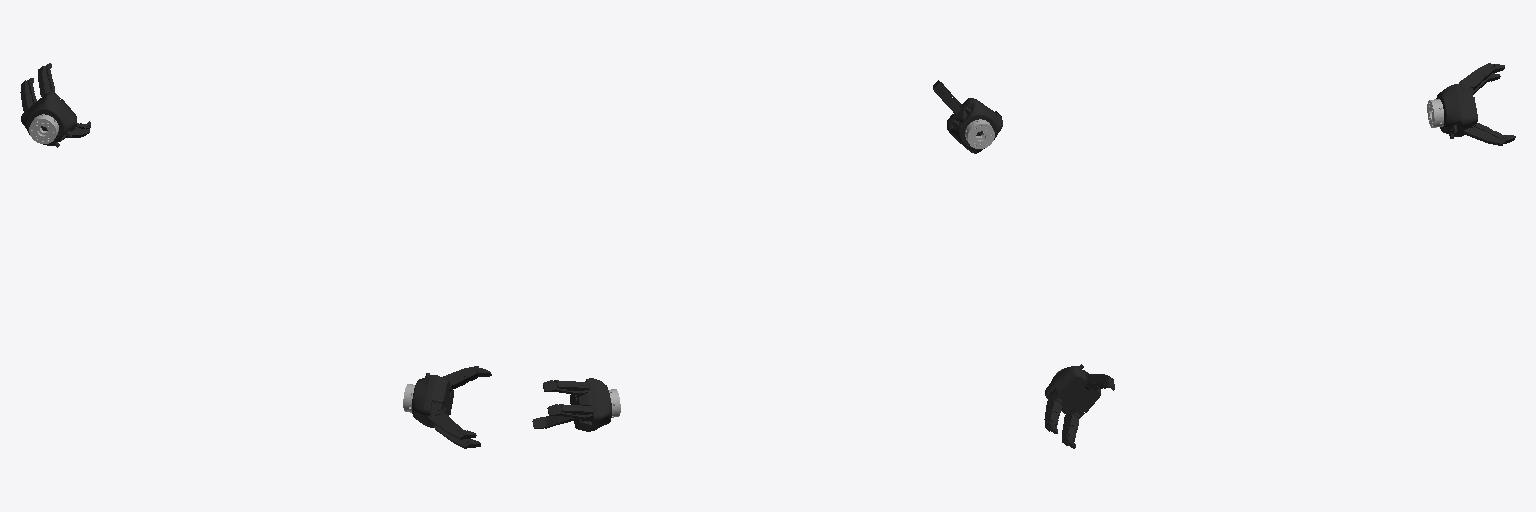
--- Render facts (derived) ---
Views: 3 orthographic renders of the robot side by side, from view 1: azimuth 30°, elevation 25°; view 2: azimuth 150°, elevation 25°; view 3: azimuth 330°, elevation 25°.
Robot: victor — 61 links, 60 joints (36 revolute, 24 fixed); root link world; default pose: every joint at zero.
Links seen in each view (by area): view 1: victor_right_gripper_palm, victor_left_gripper_palm, victor_left_gripper_mounting_bracket; view 2: victor_right_gripper_palm, victor_left_gripper_palm, victor_right_gripper_mounting_bracket; view 3: victor_left_gripper_palm, victor_right_gripper_palm.
Boxes of the visible links, left/top/right/bottom form: victor_right_gripper_palm: left=412, top=373, right=453, bottom=427; victor_left_gripper_palm: left=21, top=92, right=76, bottom=147; victor_left_gripper_mounting_bracket: left=29, top=114, right=58, bottom=143; victor_right_gripper_palm: left=947, top=98, right=1002, bottom=153; victor_left_gripper_palm: left=570, top=378, right=611, bottom=431; victor_right_gripper_mounting_bracket: left=965, top=119, right=994, bottom=148; victor_left_gripper_palm: left=1436, top=83, right=1477, bottom=138; victor_right_gripper_palm: left=1045, top=364, right=1100, bottom=414.
Bounding box of the posed robot: 0.2461 × 2.54 × 0.2294 m (x, y, z).
Meshes: 16 distinct files referenced, 28 mesh visuals loaded (6 binary STL); not drawn: 18 (reference not matched to a file when rendering).

robot.urdf — victor:
<?xml version="1.0" ?>
<!-- =================================================================================== -->
<!-- |    This document was autogenerated by xacro from victor.urdf.xacro              | -->
<!-- |    EDITING THIS FILE BY HAND IS NOT RECOMMENDED                                 | -->
<!-- =================================================================================== -->
<robot name="victor" xmlns:xacro="http://www.ros.org/wiki/xacro">
  <material name="Black">
    <color rgba="0.0 0.0 0.0 1.0"/>
  </material>
  <material name="Blue">
    <color rgba="0.0 0.0 0.8 1.0"/>
  </material>
  <material name="Green">
    <color rgba="0.0 0.8 0.0 1.0"/>
  </material>
  <material name="Grey">
    <color rgba="0.4 0.4 0.4 1.0"/>
  </material>
  <material name="Orange">
    <color rgba="1.0 0.423529411765 0.0392156862745 1.0"/>
  </material>
  <material name="Brown">
    <color rgba="0.870588235294 0.811764705882 0.764705882353 1.0"/>
  </material>
  <material name="Red">
    <color rgba="0.8 0.0 0.0 1.0"/>
  </material>
  <material name="White">
    <color rgba="1.0 1.0 1.0 1.0"/>
  </material>
  <material name="LightGrey">
    <color rgba="0.7 0.7 0.7 1"/>
  </material>
  <material name="DarkGray">
    <color rgba="0.2 0.2 0.2 1"/>
  </material>
  <material name="DarkDarkGray">
    <color rgba="0.1 0.1 0.1 1"/>
  </material>
  <link name="victor_root"/>
  <joint name="victor_dummy_root_joint" type="fixed">
    <parent link="victor_root"/>
    <child link="victor_pedestal"/>
    <origin rpy="0 0 0" xyz="0 0 0"/>
    <axis xyz="0 0 1"/>
  </joint>
  <link name="victor_pedestal">
    <visual>
      <origin rpy="0 0 0" xyz="0 0 0.9245"/>
      <geometry>
        <mesh filename="package://victor_description/meshes/baxter_pedestal/pedestal_visual.stl"/>
      </geometry>
      <material name="DarkGray"/>
    </visual>
    <collision>
      <origin rpy="0 0 0" xyz="0 0 0.9245"/>
      <geometry>
        <mesh filename="package://victor_description/meshes/baxter_pedestal/pedestal_collision.stl"/>
      </geometry>
      <material name="DarkGray"/>
    </collision>
    <inertial>
      <origin rpy="0 0 0" xyz="0 0 0"/>
      <mass value="60.86397744"/>
      <inertia ixx="5.0635929" ixy="0.00103417" ixz="0.80199628" iyy="6.08689388" iyz="0.00105311" izz="4.96191932"/>
    </inertial>
  </link>
  <joint name="victor_base_plate_mount_joint" type="fixed">
    <parent link="victor_pedestal"/>
    <child link="victor_base_plate_mount"/>
    <origin rpy="0 0 0" xyz="0 0 0.863"/>
    <axis xyz="0 0 1"/>
  </joint>
  <link name="victor_base_plate_mount"/>
  <joint name="victor_base_plate_joint" type="fixed">
    <parent link="victor_base_plate_mount"/>
    <child link="victor_base_plate"/>
    <origin rpy="0 0 0" xyz="0 0 0"/>
    <axis xyz="0 0 1"/>
  </joint>
  <link name="victor_base_plate">
    <visual>
      <origin rpy="0 0 0" xyz="0 0 0"/>
      <geometry>
        <mesh filename="package://victor_description/meshes/torso/torso_visual.stl"/>
      </geometry>
      <material name="LightGrey"/>
    </visual>
    <collision>
      <origin rpy="0 0 0" xyz="0 0 0.2"/>
      <geometry>
        <!--<mesh filename="package://victor_description/meshes/torso_visual_model.stl"/>-->
        <cylinder length="0.7" radius="0.2"/>
      </geometry>
      <material name="LightGrey"/>
    </collision>
  </link>
  <joint name="victor_left_arm_mount_joint" type="fixed">
    <parent link="victor_base_plate"/>
    <child link="victor_left_arm_mount"/>
    <origin rpy="-1.5707963268 0 -0.785398163397448" xyz="-0.02 0.1384885 0.385"/>
    <axis xyz="0 0 1"/>
  </joint>
  <link name="victor_left_arm_mount">
    <collision>
      <origin rpy="0 0 0" xyz="0 0 -0.013"/>
      <geometry>
        <!--<mesh filename="package://victor_description/meshes/torso_visual_model.stl"/>-->
        <box size="0.31 0.31 0.032"/>
      </geometry>
      <material name="LightGrey"/>
    </collision>
  </link>
  <joint name="victor_right_arm_mount_joint" type="fixed">
    <parent link="victor_base_plate"/>
    <child link="victor_right_arm_mount"/>
    <origin rpy="1.5707963268 0 0.785398163397448" xyz="-0.02 -0.1384885 0.385"/>
    <axis xyz="0 0 1"/>
  </joint>
  <link name="victor_right_arm_mount">
    <collision>
      <origin rpy="0 0 0" xyz="0 0 -0.013"/>
      <geometry>
        <!--<mesh filename="package://victor_description/meshes/torso_visual_model.stl"/>-->
        <box size="0.31 0.31 0.032"/>
      </geometry>
      <material name="LightGrey"/>
    </collision>
  </link>
  <!--joint between {parent} and link_0-->
  <joint name="victor_left_arm_mount_victor_left_arm_joint" type="fixed">
    <origin rpy="0 0 0" xyz="0 0 0"/>
    <parent link="victor_left_arm_mount"/>
    <child link="victor_left_arm_link_0"/>
  </joint>
  <link name="victor_left_arm_link_0">
    <inertial>
      <origin rpy="0 0 0" xyz="-0.1 0 0.07"/>
      <mass value="5"/>
      <inertia ixx="0.05" ixy="0" ixz="0" iyy="0.06" iyz="0" izz="0.03"/>
    </inertial>
    <visual>
      <origin rpy="0 0 0" xyz="0 0 0"/>
      <geometry>
        <mesh filename="package://victor_description/meshes/iiwa7/visual/link_0.stl"/>
      </geometry>
      <material name="Grey"/>
    </visual>
    <collision>
      <origin rpy="0 0 0" xyz="0 0 0"/>
      <geometry>
        <mesh filename="package://victor_description/meshes/iiwa7/collision/link_0.stl"/>
      </geometry>
      <material name="Grey"/>
    </collision>
    <self_collision_checking>
      <origin rpy="0 0 0" xyz="0 0 0"/>
      <geometry>
        <capsule length="0.25" radius="0.15"/>
      </geometry>
    </self_collision_checking>
  </link>
  <!-- joint between link_0 and link_1 -->
  <joint name="victor_left_arm_joint_1" type="revolute">
    <parent link="victor_left_arm_link_0"/>
    <child link="victor_left_arm_link_1"/>
    <origin rpy="0 0 0" xyz="0 0 0.15"/>
    <axis xyz="0 0 1"/>
    <limit effort="300" lower="-2.96705972839" upper="2.96705972839" velocity="10"/>
    <safety_controller k_position="100" k_velocity="100" soft_lower_limit="-2.93215314335" soft_upper_limit="2.93215314335"/>
    <dynamics damping="0.5"/>
  </joint>
  <link name="victor_left_arm_link_1">
    <inertial>
      <origin rpy="0 0 0" xyz="0 -0.03 0.12"/>
      <mass value="3.4525"/>
      <inertia ixx="0.02183" ixy="0" ixz="0" iyy="0.007703" iyz="-0.003887" izz="0.02083"/>
    </inertial>
    <visual>
      <origin rpy="0 0 0" xyz="0 0 0.0075"/>
      <geometry>
        <mesh filename="package://victor_description/meshes/iiwa7/visual/link_1.stl"/>
      </geometry>
      <material name="Orange"/>
    </visual>
    <collision>
      <origin rpy="0 0 0" xyz="0 0 0.0075"/>
      <geometry>
        <mesh filename="package://victor_description/meshes/iiwa7/collision/link_1.stl"/>
      </geometry>
      <material name="Orange"/>
    </collision>
  </link>
  <joint name="victor_left_arm_joint_2" type="revolute">
    <parent link="victor_left_arm_link_1"/>
    <child link="victor_left_arm_link_2"/>
    <origin rpy="1.57079632679   0 3.14159265359" xyz="0 0 0.19"/>
    <axis xyz="0 0 1"/>
    <limit effort="300" lower="-2.09439510239" upper="2.09439510239" velocity="10"/>
    <safety_controller k_position="100" k_velocity="100" soft_lower_limit="-2.05948851735" soft_upper_limit="2.05948851735"/>
    <dynamics damping="0.5"/>
  </joint>
  <link name="victor_left_arm_link_2">
    <inertial>
      <origin rpy="0 0 0" xyz="0.0003 0.059 0.042"/>
      <mass value="3.4821"/>
      <inertia ixx="0.02076" ixy="0" ixz="-0.003626" iyy="0.02179" iyz="0" izz="0.00779"/>
    </inertial>
    <visual>
      <origin rpy="0 0 0" xyz="0 0 0"/>
      <geometry>
        <mesh filename="package://victor_description/meshes/iiwa7/visual/link_2.stl"/>
      </geometry>
      <material name="Orange"/>
    </visual>
    <collision>
      <origin rpy="0 0 0" xyz="0 0 0"/>
      <geometry>
        <mesh filename="package://victor_description/meshes/iiwa7/collision/link_2.stl"/>
      </geometry>
      <material name="Orange"/>
    </collision>
  </link>
  <joint name="victor_left_arm_joint_3" type="revolute">
    <parent link="victor_left_arm_link_2"/>
    <child link="victor_left_arm_link_3"/>
    <origin rpy="1.57079632679 0 3.14159265359" xyz="0 0.21 0"/>
    <axis xyz="0 0 1"/>
    <limit effort="300" lower="-2.96705972839" upper="2.96705972839" velocity="10"/>
    <safety_controller k_position="100" k_velocity="100" soft_lower_limit="-2.93215314335" soft_upper_limit="2.93215314335"/>
    <dynamics damping="0.5"/>
  </joint>
  <link name="victor_left_arm_link_3">
    <inertial>
      <origin rpy="0 0 0" xyz="0 0.03 0.13"/>
      <mass value="4.05623"/>
      <inertia ixx="0.03204" ixy="0" ixz="0" iyy="0.00972" iyz="0.006227" izz="0.03042"/>
    </inertial>
    <visual>
      <origin rpy="0 0 0" xyz="0 0 -0.026"/>
      <geometry>
        <mesh filename="package://victor_description/meshes/iiwa7/visual/link_3.stl"/>
      </geometry>
      <material name="Orange"/>
    </visual>
    <collision>
      <origin rpy="0 0 0" xyz="0 0 -0.026"/>
      <geometry>
        <mesh filename="package://victor_description/meshes/iiwa7/collision/link_3.stl"/>
      </geometry>
      <material name="Orange"/>
    </collision>
  </link>
  <joint name="victor_left_arm_joint_4" type="revolute">
    <parent link="victor_left_arm_link_3"/>
    <child link="victor_left_arm_link_4"/>
    <origin rpy="1.57079632679 0 0" xyz="0 0 0.19"/>
    <axis xyz="0 0 1"/>
    <limit effort="300" lower="-2.09439510239" upper="2.09439510239" velocity="10"/>
    <safety_controller k_position="100" k_velocity="100" soft_lower_limit="-2.05948851735" soft_upper_limit="2.05948851735"/>
    <dynamics damping="0.5"/>
  </joint>
  <link name="victor_left_arm_link_4">
    <inertial>
      <origin rpy="0 0 0" xyz="0 0.067 0.034"/>
      <mass value="3.4822"/>
      <inertia ixx="0.02178" ixy="0" ixz="0" iyy="0.02075" iyz="-0.003625" izz="0.007785"/>
    </inertial>
    <visual>
      <origin rpy="0 0 0" xyz="0 0 0"/>
      <geometry>
        <mesh filename="package://victor_description/meshes/iiwa7/visual/link_4.stl"/>
      </geometry>
      <material name="Orange"/>
    </visual>
    <collision>
      <origin rpy="0 0 0" xyz="0 0 0"/>
      <geometry>
        <mesh filename="package://victor_description/meshes/iiwa7/collision/link_4.stl"/>
      </geometry>
      <material name="Orange"/>
    </collision>
  </link>
  <joint name="victor_left_arm_joint_5" type="revolute">
    <parent link="victor_left_arm_link_4"/>
    <child link="victor_left_arm_link_5"/>
    <origin rpy="-1.57079632679 3.14159265359 0" xyz="0 0.21 0"/>
    <axis xyz="0 0 1"/>
    <limit effort="300" lower="-2.96705972839" upper="2.96705972839" velocity="10"/>
    <safety_controller k_position="100" k_velocity="100" soft_lower_limit="-2.93215314335" soft_upper_limit="2.93215314335"/>
    <dynamics damping="0.5"/>
  </joint>
  <link name="victor_left_arm_link_5">
    <inertial>
      <origin rpy="0 0 0" xyz="0.0001 0.021 0.076"/>
      <mass value="2.1633"/>
      <inertia ixx="0.01287" ixy="0" ixz="0" iyy="0.005708" iyz="-0.003946" izz="0.01112"/>
    </inertial>
    <visual>
      <origin rpy="0 0 0" xyz="0 0 -0.026"/>
      <geometry>
        <mesh filename="package://victor_description/meshes/iiwa7/visual/link_5.stl"/>
      </geometry>
      <material name="Orange"/>
    </visual>
    <collision>
      <origin rpy="0 0 0" xyz="0 0 -0.026"/>
      <geometry>
        <mesh filename="package://victor_description/meshes/iiwa7/collision/link_5.stl"/>
      </geometry>
      <material name="Orange"/>
    </collision>
  </link>
  <joint name="victor_left_arm_joint_6" type="revolute">
    <parent link="victor_left_arm_link_5"/>
    <child link="victor_left_arm_link_6"/>
    <origin rpy="1.57079632679 0 0" xyz="0 0.06070 0.19"/>
    <axis xyz="0 0 1"/>
    <limit effort="300" lower="-2.09439510239" upper="2.09439510239" velocity="10"/>
    <safety_controller k_position="100" k_velocity="100" soft_lower_limit="-2.05948851735" soft_upper_limit="2.05948851735"/>
    <dynamics damping="0.5"/>
  </joint>
  <link name="victor_left_arm_link_6">
    <inertial>
      <origin rpy="0 0 0" xyz="0 0.0006 0.0004"/>
      <mass value="2.3466"/>
      <inertia ixx="0.006509" ixy="0" ixz="0" iyy="0.006259" iyz="0.00031891" izz="0.004527"/>
    </inertial>
    <visual>
      <origin rpy="0 0 0" xyz="0 0 0"/>
      <geometry>
        <mesh filename="package://victor_description/meshes/iiwa7/visual/link_6.stl"/>
      </geometry>
      <material name="Orange"/>
    </visual>
    <collision>
      <origin rpy="0 0 0" xyz="0 0 0"/>
      <geometry>
        <mesh filename="package://victor_description/meshes/iiwa7/collision/link_6.stl"/>
      </geometry>
      <material name="Orange"/>
    </collision>
  </link>
  <joint name="victor_left_arm_joint_7" type="revolute">
    <parent link="victor_left_arm_link_6"/>
    <child link="victor_left_arm_link_7"/>
    <origin rpy="-1.57079632679 3.14159265359 0" xyz="0 0.081 0.06070"/>
    <axis xyz="0 0 1"/>
    <limit effort="300" lower="-3.05432619099" upper="3.05432619099" velocity="10"/>
    <safety_controller k_position="100" k_velocity="100" soft_lower_limit="-3.01941960595" soft_upper_limit="3.01941960595"/>
    <dynamics damping="0.5"/>
  </joint>
  <link name="victor_left_arm_link_7">
    <inertial>
      <origin rpy="0 0 0" xyz="0 0 0.02"/>
      <mass value="3.129"/>
      <inertia ixx="0.01464" ixy="0.0005912" ixz="0" iyy="0.01465" iyz="0" izz="0.002872"/>
    </inertial>
    <visual>
      <origin rpy="0 0 0" xyz="0 0 -0.0005"/>
      <geometry>
        <mesh filename="package://victor_description/meshes/iiwa7/visual/link_7_electric.stl"/>
      </geometry>
      <material name="Grey"/>
    </visual>
    <collision>
      <origin rpy="0 0 0" xyz="0 0 -0.0005"/>
      <geometry>
        <mesh filename="package://victor_description/meshes/iiwa7/collision/link_7_electric.stl"/>
      </geometry>
      <material name="Grey"/>
    </collision>
  </link>
  <joint name="victor_left_arm_joint_flange" type="fixed">
    <parent link="victor_left_arm_link_7"/>
    <child link="victor_left_arm_flange"/>
    <origin rpy="0 0 0" xyz="0 0 0.045"/>
  </joint>
  <link name="victor_left_arm_flange">
        </link>
  <!-- Our usage above has been tweaked to match Kuka's internal usage, so identity transform -->
  <joint name="victor_left_arm_flange_kuka_joint" type="fixed">
    <parent link="victor_left_arm_flange"/>
    <child link="victor_left_arm_flange_kuka"/>
    <origin rpy="0 0 0" xyz="0 0 0"/>
  </joint>
  <link name="victor_left_arm_flange_kuka">
        </link>
  <!-- Load Gazebo lib and set the robot namespace -->
  <!--<xacro:if value="${load_control_plugin}">-->
  <!--<gazebo>-->
  <!--<plugin name="gazebo_ros_control" filename="libgazebo_ros_control.so">-->
  <!--<robotNamespace>/${robot_name}</robotNamespace>-->
  <!--</plugin>-->
  <!--</gazebo>-->
  <!--</xacro:if>-->
  <!-- Link0 -->
  <gazebo reference="victor_left_arm_link_0">
    <material>Gazebo/Grey</material>
    <mu1>0.2</mu1>
    <mu2>0.2</mu2>
  </gazebo>
  <!-- Link1 -->
  <gazebo reference="victor_left_arm_link_1">
    <material>Gazebo/Orange</material>
    <mu1>0.2</mu1>
    <mu2>0.2</mu2>
  </gazebo>
  <!-- Link2 -->
  <gazebo reference="victor_left_arm_link_2">
    <material>Gazebo/Orange</material>
    <mu1>0.2</mu1>
    <mu2>0.2</mu2>
  </gazebo>
  <!-- Link3 -->
  <gazebo reference="victor_left_arm_link_3">
    <material>Gazebo/Orange</material>
    <mu1>0.2</mu1>
    <mu2>0.2</mu2>
  </gazebo>
  <!-- Link4 -->
  <gazebo reference="victor_left_arm_link_4">
    <material>Gazebo/Orange</material>
    <mu1>0.2</mu1>
    <mu2>0.2</mu2>
  </gazebo>
  <!-- Link5 -->
  <gazebo reference="victor_left_arm_link_5">
    <material>Gazebo/Orange</material>
    <mu1>0.2</mu1>
    <mu2>0.2</mu2>
  </gazebo>
  <!-- Link6 -->
  <gazebo reference="victor_left_arm_link_6">
    <material>Gazebo/Orange</material>
    <mu1>0.2</mu1>
    <mu2>0.2</mu2>
  </gazebo>
  <!-- Link7 -->
  <gazebo reference="victor_left_arm_link_7">
    <material>Gazebo/Grey</material>
    <mu1>0.2</mu1>
    <mu2>0.2</mu2>
  </gazebo>
  <transmission name="victor_left_arm_tran_1">
    <type>transmission_interface/SimpleTransmission</type>
    <joint name="victor_left_arm_joint_1">
      <hardwareInterface>hardware_interface/PositionJointInterface</hardwareInterface>
    </joint>
    <actuator name="victor_left_arm_motor_1">
      <mechanicalReduction>1</mechanicalReduction>
    </actuator>
  </transmission>
  <transmission name="victor_left_arm_tran_2">
    <type>transmission_interface/SimpleTransmission</type>
    <joint name="victor_left_arm_joint_2">
      <hardwareInterface>hardware_interface/PositionJointInterface</hardwareInterface>
    </joint>
    <actuator name="victor_left_arm_motor_2">
      <mechanicalReduction>1</mechanicalReduction>
    </actuator>
  </transmission>
  <transmission name="victor_left_arm_tran_3">
    <type>transmission_interface/SimpleTransmission</type>
    <joint name="victor_left_arm_joint_3">
      <hardwareInterface>hardware_interface/PositionJointInterface</hardwareInterface>
    </joint>
    <actuator name="victor_left_arm_motor_3">
      <mechanicalReduction>1</mechanicalReduction>
    </actuator>
  </transmission>
  <transmission name="victor_left_arm_tran_4">
    <type>transmission_interface/SimpleTransmission</type>
    <joint name="victor_left_arm_joint_4">
      <hardwareInterface>hardware_interface/PositionJointInterface</hardwareInterface>
    </joint>
    <actuator name="victor_left_arm_motor_4">
      <mechanicalReduction>1</mechanicalReduction>
    </actuator>
  </transmission>
  <transmission name="victor_left_arm_tran_5">
    <type>transmission_interface/SimpleTransmission</type>
    <joint name="victor_left_arm_joint_5">
      <hardwareInterface>hardware_interface/PositionJointInterface</hardwareInterface>
    </joint>
    <actuator name="victor_left_arm_motor_5">
      <mechanicalReduction>1</mechanicalReduction>
    </actuator>
  </transmission>
  <transmission name="victor_left_arm_tran_6">
    <type>transmission_interface/SimpleTransmission</type>
    <joint name="victor_left_arm_joint_6">
      <hardwareInterface>hardware_interface/PositionJointInterface</hardwareInterface>
    </joint>
    <actuator name="victor_left_arm_motor_6">
      <mechanicalReduction>1</mechanicalReduction>
    </actuator>
  </transmission>
  <transmission name="victor_left_arm_tran_7">
    <type>transmission_interface/SimpleTransmission</type>
    <joint name="victor_left_arm_joint_7">
      <hardwareInterface>hardware_interface/PositionJointInterface</hardwareInterface>
    </joint>
    <actuator name="victor_left_arm_motor_7">
      <mechanicalReduction>1</mechanicalReduction>
    </actuator>
  </transmission>
  <joint name="victor_joint_left_arm_world_frame_kuka" type="fixed">
    <parent link="victor_left_arm_mount"/>
    <child link="victor_left_arm_world_frame_kuka"/>
    <origin rpy="1.57079632679 0 0" xyz="0 0 0"/>
  </joint>
  <link name="victor_left_arm_world_frame_kuka">
    </link>
  <!--joint between {parent} and link_0-->
  <joint name="victor_right_arm_mount_victor_right_arm_joint" type="fixed">
    <origin rpy="0 0 0" xyz="0 0 0"/>
    <parent link="victor_right_arm_mount"/>
    <child link="victor_right_arm_link_0"/>
  </joint>
  <link name="victor_right_arm_link_0">
    <inertial>
      <origin rpy="0 0 0" xyz="-0.1 0 0.07"/>
      <mass value="5"/>
      <inertia ixx="0.05" ixy="0" ixz="0" iyy="0.06" iyz="0" izz="0.03"/>
    </inertial>
    <visual>
      <origin rpy="0 0 0" xyz="0 0 0"/>
      <geometry>
        <mesh filename="package://victor_description/meshes/iiwa7/visual/link_0.stl"/>
      </geometry>
      <material name="Grey"/>
    </visual>
    <collision>
      <origin rpy="0 0 0" xyz="0 0 0"/>
      <geometry>
        <mesh filename="package://victor_description/meshes/iiwa7/collision/link_0.stl"/>
      </geometry>
      <material name="Grey"/>
    </collision>
    <self_collision_checking>
      <origin rpy="0 0 0" xyz="0 0 0"/>
      <geometry>
        <capsule length="0.25" radius="0.15"/>
      </geometry>
    </self_collision_checking>
  </link>
  <!-- joint between link_0 and link_1 -->
  <joint name="victor_right_arm_joint_1" type="revolute">
    <parent link="victor_right_arm_link_0"/>
    <child link="victor_right_arm_link_1"/>
    <origin rpy="0 0 0" xyz="0 0 0.15"/>
    <axis xyz="0 0 1"/>
    <limit effort="300" lower="-2.96705972839" upper="2.96705972839" velocity="10"/>
    <safety_controller k_position="100" k_velocity="100" soft_lower_limit="-2.93215314335" soft_upper_limit="2.93215314335"/>
    <dynamics damping="0.5"/>
  </joint>
  <link name="victor_right_arm_link_1">
    <inertial>
      <origin rpy="0 0 0" xyz="0 -0.03 0.12"/>
      <mass value="3.4525"/>
      <inertia ixx="0.02183" ixy="0" ixz="0" iyy="0.007703" iyz="-0.003887" izz="0.02083"/>
    </inertial>
    <visual>
      <origin rpy="0 0 0" xyz="0 0 0.0075"/>
      <geometry>
        <mesh filename="package://victor_description/meshes/iiwa7/visual/link_1.stl"/>
      </geometry>
      <material name="Orange"/>
    </visual>
    <collision>
      <origin rpy="0 0 0" xyz="0 0 0.0075"/>
      <geometry>
        <mesh filename="package://victor_description/meshes/iiwa7/collision/link_1.stl"/>
      </geometry>
      <material name="Orange"/>
    </collision>
  </link>
  <joint name="victor_right_arm_joint_2" type="revolute">
    <parent link="victor_right_arm_link_1"/>
    <child link="victor_right_arm_link_2"/>
    <origin rpy="1.57079632679   0 3.14159265359" xyz="0 0 0.19"/>
    <axis xyz="0 0 1"/>
    <limit effort="300" lower="-2.09439510239" upper="2.09439510239" velocity="10"/>
    <safety_controller k_position="100" k_velocity="100" soft_lower_limit="-2.05948851735" soft_upper_limit="2.05948851735"/>
    <dynamics damping="0.5"/>
  </joint>
  <link name="victor_right_arm_link_2">
    <inertial>
      <origin rpy="0 0 0" xyz="0.0003 0.059 0.042"/>
      <mass value="3.4821"/>
      <inertia ixx="0.02076" ixy="0" ixz="-0.003626" iyy="0.02179" iyz="0" izz="0.00779"/>
    </inertial>
    <visual>
      <origin rpy="0 0 0" xyz="0 0 0"/>
      <geometry>
        <mesh filename="package://victor_description/meshes/iiwa7/visual/link_2.stl"/>
      </geometry>
      <material name="Orange"/>
    </visual>
    <collision>
      <origin rpy="0 0 0" xyz="0 0 0"/>
      <geometry>
        <mesh filename="package://victor_description/meshes/iiwa7/collision/link_2.stl"/>
      </geometry>
      <material name="Orange"/>
    </collision>
  </link>
  <joint name="victor_right_arm_joint_3" type="revolute">
    <parent link="victor_right_arm_link_2"/>
    <child link="victor_right_arm_link_3"/>
    <origin rpy="1.57079632679 0 3.14159265359" xyz="0 0.21 0"/>
    <axis xyz="0 0 1"/>
    <limit effort="300" lower="-2.96705972839" upper="2.96705972839" velocity="10"/>
    <safety_controller k_position="100" k_velocity="100" soft_lower_limit="-2.93215314335" soft_upper_limit="2.93215314335"/>
    <dynamics damping="0.5"/>
  </joint>
  <link name="victor_right_arm_link_3">
    <inertial>
      <origin rpy="0 0 0" xyz="0 0.03 0.13"/>
      <mass value="4.05623"/>
      <inertia ixx="0.03204" ixy="0" ixz="0" iyy="0.00972" iyz="0.006227" izz="0.03042"/>
    </inertial>
    <visual>
      <origin rpy="0 0 0" xyz="0 0 -0.026"/>
      <geometry>
        <mesh filename="package://victor_description/meshes/iiwa7/visual/link_3.stl"/>
      </geometry>
      <material name="Orange"/>
    </visual>
    <collision>
      <origin rpy="0 0 0" xyz="0 0 -0.026"/>
      <geometry>
        <mesh filename="package://victor_description/meshes/iiwa7/collision/link_3.stl"/>
      </geometry>
      <material name="Orange"/>
    </collision>
  </link>
  <joint name="victor_right_arm_joint_4" type="revolute">
    <parent link="victor_right_arm_link_3"/>
    <child link="victor_right_arm_link_4"/>
    <origin rpy="1.57079632679 0 0" xyz="0 0 0.19"/>
    <axis xyz="0 0 1"/>
    <limit effort="300" lower="-2.09439510239" upper="2.09439510239" velocity="10"/>
    <safety_controller k_position="100" k_velocity="100" soft_lower_limit="-2.05948851735" soft_upper_limit="2.05948851735"/>
    <dynamics damping="0.5"/>
  </joint>
  <link name="victor_right_arm_link_4">
    <inertial>
      <origin rpy="0 0 0" xyz="0 0.067 0.034"/>
      <mass value="3.4822"/>
      <inertia ixx="0.02178" ixy="0" ixz="0" iyy="0.02075" iyz="-0.003625" izz="0.007785"/>
    </inertial>
    <visual>
      <origin rpy="0 0 0" xyz="0 0 0"/>
      <geometry>
        <mesh filename="package://victor_description/meshes/iiwa7/visual/link_4.stl"/>
      </geometry>
      <material name="Orange"/>
    </visual>
    <collision>
      <origin rpy="0 0 0" xyz="0 0 0"/>
      <geometry>
        <mesh filename="package://victor_description/meshes/iiwa7/collision/link_4.stl"/>
      </geometry>
      <material name="Orange"/>
    </collision>
  </link>
  <joint name="victor_right_arm_joint_5" type="revolute">
    <parent link="victor_right_arm_link_4"/>
    <child link="victor_right_arm_link_5"/>
    <origin rpy="-1.57079632679 3.14159265359 0" xyz="0 0.21 0"/>
    <axis xyz="0 0 1"/>
    <limit effort="300" lower="-2.96705972839" upper="2.96705972839" velocity="10"/>
    <safety_controller k_position="100" k_velocity="100" soft_lower_limit="-2.93215314335" soft_upper_limit="2.93215314335"/>
    <dynamics damping="0.5"/>
  </joint>
  <link name="victor_right_arm_link_5">
    <inertial>
      <origin rpy="0 0 0" xyz="0.0001 0.021 0.076"/>
      <mass value="2.1633"/>
      <inertia ixx="0.01287" ixy="0" ixz="0" iyy="0.005708" iyz="-0.003946" izz="0.01112"/>
    </inertial>
    <visual>
      <origin rpy="0 0 0" xyz="0 0 -0.026"/>
      <geometry>
        <mesh filename="package://victor_description/meshes/iiwa7/visual/link_5.stl"/>
      </geometry>
      <material name="Orange"/>
    </visual>
    <collision>
      <origin rpy="0 0 0" xyz="0 0 -0.026"/>
      <geometry>
        <mesh filename="package://victor_description/meshes/iiwa7/collision/link_5.stl"/>
      </geometry>
      <material name="Orange"/>
    </collision>
  </link>
  <joint name="victor_right_arm_joint_6" type="revolute">
    <parent link="victor_right_arm_link_5"/>
    <child link="victor_right_arm_link_6"/>
    <origin rpy="1.57079632679 0 0" xyz="0 0.06070 0.19"/>
    <axis xyz="0 0 1"/>
    <limit effort="300" lower="-2.09439510239" upper="2.09439510239" velocity="10"/>
    <safety_controller k_position="100" k_velocity="100" soft_lower_limit="-2.05948851735" soft_upper_limit="2.05948851735"/>
    <dynamics damping="0.5"/>
  </joint>
  <link name="victor_right_arm_link_6">
    <inertial>
      <origin rpy="0 0 0" xyz="0 0.0006 0.0004"/>
      <mass value="2.3466"/>
      <inertia ixx="0.006509" ixy="0" ixz="0" iyy="0.006259" iyz="0.00031891" izz="0.004527"/>
    </inertial>
    <visual>
      <origin rpy="0 0 0" xyz="0 0 0"/>
      <geometry>
        <mesh filename="package://victor_description/meshes/iiwa7/visual/link_6.stl"/>
      </geometry>
      <material name="Orange"/>
    </visual>
    <collision>
      <origin rpy="0 0 0" xyz="0 0 0"/>
      <geometry>
        <mesh filename="package://victor_description/meshes/iiwa7/collision/link_6.stl"/>
      </geometry>
      <material name="Orange"/>
    </collision>
  </link>
  <joint name="victor_right_arm_joint_7" type="revolute">
    <parent link="victor_right_arm_link_6"/>
    <child link="victor_right_arm_link_7"/>
    <origin rpy="-1.57079632679 3.14159265359 0" xyz="0 0.081 0.06070"/>
    <axis xyz="0 0 1"/>
    <limit effort="300" lower="-3.05432619099" upper="3.05432619099" velocity="10"/>
    <safety_controller k_position="100" k_velocity="100" soft_lower_limit="-3.01941960595" soft_upper_limit="3.01941960595"/>
    <dynamics damping="0.5"/>
  </joint>
  <link name="victor_right_arm_link_7">
    <inertial>
      <origin rpy="0 0 0" xyz="0 0 0.02"/>
      <mass value="3.129"/>
      <inertia ixx="0.01464" ixy="0.0005912" ixz="0" iyy="0.01465" iyz="0" izz="0.002872"/>
    </inertial>
    <visual>
      <origin rpy="0 0 0" xyz="0 0 -0.0005"/>
      <geometry>
        <mesh filename="package://victor_description/meshes/iiwa7/visual/link_7_electric.stl"/>
      </geometry>
      <material name="Grey"/>
    </visual>
    <collision>
      <origin rpy="0 0 0" xyz="0 0 -0.0005"/>
      <geometry>
        <mesh filename="package://victor_description/meshes/iiwa7/collision/link_7_electric.stl"/>
      </geometry>
      <material name="Grey"/>
    </collision>
  </link>
  <joint name="victor_right_arm_joint_flange" type="fixed">
    <parent link="victor_right_arm_link_7"/>
    <child link="victor_right_arm_flange"/>
    <origin rpy="0 0 0" xyz="0 0 0.045"/>
  </joint>
  <link name="victor_right_arm_flange">
        </link>
  <!-- Our usage above has been tweaked to match Kuka's internal usage, so identity transform -->
  <joint name="victor_right_arm_flange_kuka_joint" type="fixed">
    <parent link="victor_right_arm_flange"/>
    <child link="victor_right_arm_flange_kuka"/>
    <origin rpy="0 0 0" xyz="0 0 0"/>
  </joint>
  <link name="victor_right_arm_flange_kuka">
        </link>
  <!-- Load Gazebo lib and set the robot namespace -->
  <!--<xacro:if value="${load_control_plugin}">-->
  <!--<gazebo>-->
  <!--<plugin name="gazebo_ros_control" filename="libgazebo_ros_control.so">-->
  <!--<robotNamespace>/${robot_name}</robotNamespace>-->
  <!--</plugin>-->
  <!--</gazebo>-->
  <!--</xacro:if>-->
  <!-- Link0 -->
  <gazebo reference="victor_right_arm_link_0">
    <material>Gazebo/Grey</material>
    <mu1>0.2</mu1>
    <mu2>0.2</mu2>
  </gazebo>
  <!-- Link1 -->
  <gazebo reference="victor_right_arm_link_1">
    <material>Gazebo/Orange</material>
    <mu1>0.2</mu1>
    <mu2>0.2</mu2>
  </gazebo>
  <!-- Link2 -->
  <gazebo reference="victor_right_arm_link_2">
    <material>Gazebo/Orange</material>
    <mu1>0.2</mu1>
    <mu2>0.2</mu2>
  </gazebo>
  <!-- Link3 -->
  <gazebo reference="victor_right_arm_link_3">
    <material>Gazebo/Orange</material>
    <mu1>0.2</mu1>
    <mu2>0.2</mu2>
  </gazebo>
  <!-- Link4 -->
  <gazebo reference="victor_right_arm_link_4">
    <material>Gazebo/Orange</material>
    <mu1>0.2</mu1>
    <mu2>0.2</mu2>
  </gazebo>
  <!-- Link5 -->
  <gazebo reference="victor_right_arm_link_5">
    <material>Gazebo/Orange</material>
    <mu1>0.2</mu1>
    <mu2>0.2</mu2>
  </gazebo>
  <!-- Link6 -->
  <gazebo reference="victor_right_arm_link_6">
    <material>Gazebo/Orange</material>
    <mu1>0.2</mu1>
    <mu2>0.2</mu2>
  </gazebo>
  <!-- Link7 -->
  <gazebo reference="victor_right_arm_link_7">
    <material>Gazebo/Grey</material>
    <mu1>0.2</mu1>
    <mu2>0.2</mu2>
  </gazebo>
  <transmission name="victor_right_arm_tran_1">
    <type>transmission_interface/SimpleTransmission</type>
    <joint name="victor_right_arm_joint_1">
      <hardwareInterface>hardware_interface/PositionJointInterface</hardwareInterface>
    </joint>
    <actuator name="victor_right_arm_motor_1">
      <mechanicalReduction>1</mechanicalReduction>
    </actuator>
  </transmission>
  <transmission name="victor_right_arm_tran_2">
    <type>transmission_interface/SimpleTransmission</type>
    <joint name="victor_right_arm_joint_2">
      <hardwareInterface>hardware_interface/PositionJointInterface</hardwareInterface>
    </joint>
    <actuator name="victor_right_arm_motor_2">
      <mechanicalReduction>1</mechanicalReduction>
    </actuator>
  </transmission>
  <transmission name="victor_right_arm_tran_3">
    <type>transmission_interface/SimpleTransmission</type>
    <joint name="victor_right_arm_joint_3">
      <hardwareInterface>hardware_interface/PositionJointInterface</hardwareInterface>
    </joint>
    <actuator name="victor_right_arm_motor_3">
      <mechanicalReduction>1</mechanicalReduction>
    </actuator>
  </transmission>
  <transmission name="victor_right_arm_tran_4">
    <type>transmission_interface/SimpleTransmission</type>
    <joint name="victor_right_arm_joint_4">
      <hardwareInterface>hardware_interface/PositionJointInterface</hardwareInterface>
    </joint>
    <actuator name="victor_right_arm_motor_4">
      <mechanicalReduction>1</mechanicalReduction>
    </actuator>
  </transmission>
  <transmission name="victor_right_arm_tran_5">
    <type>transmission_interface/SimpleTransmission</type>
    <joint name="victor_right_arm_joint_5">
      <hardwareInterface>hardware_interface/PositionJointInterface</hardwareInterface>
    </joint>
    <actuator name="victor_right_arm_motor_5">
      <mechanicalReduction>1</mechanicalReduction>
    </actuator>
  </transmission>
  <transmission name="victor_right_arm_tran_6">
    <type>transmission_interface/SimpleTransmission</type>
    <joint name="victor_right_arm_joint_6">
      <hardwareInterface>hardware_interface/PositionJointInterface</hardwareInterface>
    </joint>
    <actuator name="victor_right_arm_motor_6">
      <mechanicalReduction>1</mechanicalReduction>
    </actuator>
  </transmission>
  <transmission name="victor_right_arm_tran_7">
    <type>transmission_interface/SimpleTransmission</type>
    <joint name="victor_right_arm_joint_7">
      <hardwareInterface>hardware_interface/PositionJointInterface</hardwareInterface>
    </joint>
    <actuator name="victor_right_arm_motor_7">
      <mechanicalReduction>1</mechanicalReduction>
    </actuator>
  </transmission>
  <joint name="victor_joint_right_arm_world_frame_kuka" type="fixed">
    <parent link="victor_right_arm_mount"/>
    <child link="victor_right_arm_world_frame_kuka"/>
    <origin rpy="-1.57079632679 0 0" xyz="0 0 0"/>
  </joint>
  <link name="victor_right_arm_world_frame_kuka">
    </link>
  <!--joint between {parent} and link_0-->
  <joint name="victor_left_arm_flange_victor_left_joint" type="fixed">
    <origin rpy="0 0 0" xyz="0 0 0"/>
    <parent link="victor_left_arm_flange"/>
    <child link="victor_left_gripper_mounting_bracket"/>
  </joint>
  <link name="victor_left_gripper_mounting_bracket">
    <visual>
      <origin rpy="0 0 0" xyz="0 0 0"/>
      <geometry>
        <mesh filename="package://victor_description/meshes/robotiq_3finger/kuka_to_palm_connectors_visual.stl"/>
      </geometry>
      <material name="LightGrey"/>
    </visual>
    <collision>
      <origin rpy="0 0 0" xyz="0 0 0"/>
      <geometry>
        <mesh filename="package://victor_description/meshes/robotiq_3finger/kuka_to_palm_connectors_collision.stl"/>
      </geometry>
      <material name="LightGrey"/>
    </collision>
  </link>
  <!--joint between {parent} and link_0-->
  <joint name="victor_right_arm_flange_victor_right_joint" type="fixed">
    <origin rpy="0 0 0" xyz="0 0 0"/>
    <parent link="victor_right_arm_flange"/>
    <child link="victor_right_gripper_mounting_bracket"/>
  </joint>
  <link name="victor_right_gripper_mounting_bracket">
    <visual>
      <origin rpy="0 0 0" xyz="0 0 0"/>
      <geometry>
        <mesh filename="package://victor_description/meshes/robotiq_3finger/kuka_to_palm_connectors_visual.stl"/>
      </geometry>
      <material name="LightGrey"/>
    </visual>
    <collision>
      <origin rpy="0 0 0" xyz="0 0 0"/>
      <geometry>
        <mesh filename="package://victor_description/meshes/robotiq_3finger/kuka_to_palm_connectors_collision.stl"/>
      </geometry>
      <material name="LightGrey"/>
    </collision>
  </link>
  <joint name="victor_left_gripper_palm_joint" type="fixed">
    <origin rpy="0 0 0.785398163397" xyz="0 0 0.02705"/>
    <parent link="victor_left_gripper_mounting_bracket"/>
    <child link="victor_left_gripper_palm"/>
  </joint>
  <link name="victor_left_gripper_palm">
    <inertial>
      <origin rpy="0 0 0" xyz="0 0 0"/>
      <mass value="1"/>
      <inertia ixx="0.01" ixy="0" ixz="0" iyy="0.01" iyz="0" izz="0.01"/>
    </inertial>
    <visual>
      <origin rpy="0 0 0" xyz="0 0 0"/>
      <geometry>
        <mesh filename="package://victor_description/meshes/robotiq_3finger/palm_visual.stl"/>
      </geometry>
      <material name="DarkGray"/>
    </visual>
    <collision>
      <origin rpy="0 0 0" xyz="0 0 0"/>
      <geometry>
        <mesh filename="package://victor_description/meshes/robotiq_3finger/palm_collision.stl"/>
      </geometry>
      <material name="DarkGray"/>
    </collision>
  </link>
  <!-- Palm surface aligned with the gripper axis -->
  <joint name="victor_left_gripper_palm_surface_joint" type="fixed">
    <parent link="victor_left_gripper_palm"/>
    <child link="victor_left_gripper_palm_surface"/>
    <origin rpy="0 0 0" xyz="0 0 0.092075"/>
  </joint>
  <link name="victor_left_gripper_palm_surface">
        </link>
  <!-- Kuka internal frame has been changed to match our external usage, so identity transform -->
  <joint name="victor_left_gripper_palm_surface_kuka_joint" type="fixed">
    <parent link="victor_left_gripper_palm_surface"/>
    <child link="victor_left_gripper_palm_surface_kuka"/>
    <origin rpy="0 0 0" xyz="0 0 0"/>
  </joint>
  <link name="victor_left_gripper_palm_surface_kuka">
        </link>
  <!-- Finger A -->
  <joint name="victor_left_gripper_fingerA_knuckle" type="fixed">
    <origin rpy="0 0 0" xyz="0.02225040 0 0.06111875"/>
    <parent link="victor_left_gripper_palm"/>
    <child link="victor_left_gripper_fingerA_base"/>
  </joint>
  <link name="victor_left_gripper_fingerA_base">
    <inertial>
      <origin rpy="0 0 0" xyz="0 0 0"/>
      <mass value="1"/>
      <inertia ixx="0.01" ixy="0" ixz="0" iyy="0.01" iyz="0" izz="0.01"/>
    </inertial>
    <visual>
      <origin rpy="0 0 0" xyz="0 0 0"/>
      <geometry>
        <mesh filename="package://victor_description/meshes/robotiq_3finger/finger_link1_base_visual.stl"/>
      </geometry>
      <material name="DarkGray"/>
    </visual>
    <collision>
      <origin rpy="0 0 0" xyz="0 0 0"/>
      <geometry>
        <mesh filename="package://victor_description/meshes/robotiq_3finger/finger_link1_base_visual.stl"/>
      </geometry>
      <material name="DarkGray"/>
    </collision>
  </link>
  <!-- Joint 2 (base-prox) -->
  <joint name="victor_left_gripper_fingerA_joint_2" type="revolute">
    <parent link="victor_left_gripper_fingerA_base"/>
    <child link="victor_left_gripper_fingerA_prox"/>
    <origin rpy="0 0.610865238198 0" xyz="0.02225000 0 0.02151380"/>
    <axis xyz="0 -1 0"/>
    <limit effort="300" lower="0" upper="1.2217304763960307" velocity="10"/>
    <safety_controller k_position="100" k_velocity="100" soft_lower_limit="-0.610865238198" soft_upper_limit="0.610865238198"/>
    <dynamics damping="0.5"/>
  </joint>
  <link name="victor_left_gripper_fingerA_prox">
    <inertial>
      <origin rpy="0 0 0" xyz="0 0 0"/>
      <mass value="1"/>
      <inertia ixx="0.01" ixy="0" ixz="0" iyy="0.01" iyz="0" izz="0.01"/>
    </inertial>
    <visual>
      <origin rpy="0 0 0" xyz="0 0 0"/>
      <geometry>
        <mesh filename="package://victor_description/meshes/robotiq_3finger/finger_link2_prox_visual.stl"/>
      </geometry>
      <material name="DarkGray"/>
    </visual>
    <collision>
      <origin rpy="0 0 0" xyz="0 0 0"/>
      <geometry>
        <mesh filename="package://victor_description/meshes/robotiq_3finger/finger_link2_prox_collision.stl"/>
      </geometry>
      <material name="DarkGray"/>
    </collision>
  </link>
  <!-- Joint 3 (prox-med) -->
  <joint name="victor_left_gripper_fingerA_joint_3" type="revolute">
    <parent link="victor_left_gripper_fingerA_prox"/>
    <child link="victor_left_gripper_fingerA_med"/>
    <origin rpy="0 0 0" xyz="0 0 0.05715000"/>
    <axis xyz="0 -1 0"/>
    <limit effort="300" lower="-1" upper="1" velocity="10"/>
    <safety_controller k_position="100" k_velocity="100" soft_lower_limit="0.0" soft_upper_limit="1.57079632679"/>
    <dynamics damping="0.5"/>
  </joint>
  <link name="victor_left_gripper_fingerA_med">
    <inertial>
      <origin rpy="0 0 0" xyz="0 0 0"/>
      <mass value="1"/>
      <inertia ixx="0.01" ixy="0" ixz="0" iyy="0.01" iyz="0" izz="0.01"/>
    </inertial>
    <visual>
      <origin rpy="0 0 0" xyz="0 0 0"/>
      <geometry>
        <mesh filename="package://victor_description/meshes/robotiq_3finger/finger_link3_med_visual.stl"/>
      </geometry>
      <material name="DarkGray"/>
    </visual>
    <collision>
      <origin rpy="0 0 0" xyz="0 0 0"/>
      <geometry>
        <mesh filename="package://victor_description/meshes/robotiq_3finger/finger_link3_med_collision.stl"/>
      </geometry>
      <material name="DarkGray"/>
    </collision>
  </link>
  <!-- Joint 4 (med-dist) -->
  <joint name="victor_left_gripper_fingerA_joint_4" type="revolute">
    <parent link="victor_left_gripper_fingerA_med"/>
    <child link="victor_left_gripper_fingerA_dist"/>
    <origin rpy="0 -0.436332312999 0" xyz="0 0 0.03810000"/>
    <axis xyz="0 -1 0"/>
    <limit effort="300" lower="-1" upper="1" velocity="10"/>
    <safety_controller k_position="100" k_velocity="100" soft_lower_limit="-0.436332312999" soft_upper_limit="1.27409035396"/>
    <dynamics damping="0.5"/>
  </joint>
  <link name="victor_left_gripper_fingerA_dist">
    <inertial>
      <origin rpy="0 0 0" xyz="0 0 0"/>
      <mass value="1"/>
      <inertia ixx="0.01" ixy="0" ixz="0" iyy="0.01" iyz="0" izz="0.01"/>
    </inertial>
    <visual>
      <origin rpy="0 0 0" xyz="0 0 0"/>
      <geometry>
        <mesh filename="package://victor_description/meshes/robotiq_3finger/finger_link4_dist_visual.stl"/>
      </geometry>
      <material name="DarkGray"/>
    </visual>
    <collision>
      <origin rpy="0 0 0" xyz="0 0 0"/>
      <geometry>
        <mesh filename="package://victor_description/meshes/robotiq_3finger/finger_link4_dist_collision.stl"/>
      </geometry>
      <material name="DarkGray"/>
    </collision>
  </link>
  <!-- Finger B -->
  <joint name="victor_left_gripper_fingerB_knuckle" type="revolute">
    <origin rpy="0 0 3.14159265359" xyz="-0.02230120 0.03651250 0.06111875"/>
    <parent link="victor_left_gripper_palm"/>
    <child link="victor_left_gripper_fingerB_base"/>
    <axis xyz="-1 0 0"/>
    <limit effort="300" lower="-0.279252680319" upper="0.174532925199" velocity="10"/>
    <safety_controller k_position="100" k_velocity="100" soft_lower_limit="-0.244346095279" soft_upper_limit="0.13962634016"/>
    <dynamics damping="0.5"/>
  </joint>
  <link name="victor_left_gripper_fingerB_base">
    <inertial>
      <origin rpy="0 0 0" xyz="0 0 0"/>
      <mass value="1"/>
      <inertia ixx="0.01" ixy="0" ixz="0" iyy="0.01" iyz="0" izz="0.01"/>
    </inertial>
    <visual>
      <origin rpy="0 0 0" xyz="0 0 0"/>
      <geometry>
        <mesh filename="package://victor_description/meshes/robotiq_3finger/finger_link1_base_visual.stl"/>
      </geometry>
      <material name="DarkGray"/>
    </visual>
    <collision>
      <origin rpy="0 0 0" xyz="0 0 0"/>
      <geometry>
        <mesh filename="package://victor_description/meshes/robotiq_3finger/finger_link1_base_visual.stl"/>
      </geometry>
      <material name="DarkGray"/>
    </collision>
  </link>
  <!-- Joint 2 (base-prox) -->
  <joint name="victor_left_gripper_fingerB_joint_2" type="revolute">
    <parent link="victor_left_gripper_fingerB_base"/>
    <child link="victor_left_gripper_fingerB_prox"/>
    <origin rpy="0 0.610865238198 0" xyz="0.02225000 0 0.02151380"/>
    <axis xyz="0 -1 0"/>
    <limit effort="300" lower="0" upper="1.2217304763960307" velocity="10"/>
    <safety_controller k_position="100" k_velocity="100" soft_lower_limit="-0.610865238198" soft_upper_limit="0.610865238198"/>
    <dynamics damping="0.5"/>
  </joint>
  <link name="victor_left_gripper_fingerB_prox">
    <inertial>
      <origin rpy="0 0 0" xyz="0 0 0"/>
      <mass value="1"/>
      <inertia ixx="0.01" ixy="0" ixz="0" iyy="0.01" iyz="0" izz="0.01"/>
    </inertial>
    <visual>
      <origin rpy="0 0 0" xyz="0 0 0"/>
      <geometry>
        <mesh filename="package://victor_description/meshes/robotiq_3finger/finger_link2_prox_visual.stl"/>
      </geometry>
      <material name="DarkGray"/>
    </visual>
    <collision>
      <origin rpy="0 0 0" xyz="0 0 0"/>
      <geometry>
        <mesh filename="package://victor_description/meshes/robotiq_3finger/finger_link2_prox_collision.stl"/>
      </geometry>
      <material name="DarkGray"/>
    </collision>
  </link>
  <!-- Joint 3 (prox-med) -->
  <joint name="victor_left_gripper_fingerB_joint_3" type="revolute">
    <parent link="victor_left_gripper_fingerB_prox"/>
    <child link="victor_left_gripper_fingerB_med"/>
    <origin rpy="0 0 0" xyz="0 0 0.05715000"/>
    <axis xyz="0 -1 0"/>
    <limit effort="300" lower="-1" upper="1" velocity="10"/>
    <safety_controller k_position="100" k_velocity="100" soft_lower_limit="0.0" soft_upper_limit="1.57079632679"/>
    <dynamics damping="0.5"/>
  </joint>
  <link name="victor_left_gripper_fingerB_med">
    <inertial>
      <origin rpy="0 0 0" xyz="0 0 0"/>
      <mass value="1"/>
      <inertia ixx="0.01" ixy="0" ixz="0" iyy="0.01" iyz="0" izz="0.01"/>
    </inertial>
    <visual>
      <origin rpy="0 0 0" xyz="0 0 0"/>
      <geometry>
        <mesh filename="package://victor_description/meshes/robotiq_3finger/finger_link3_med_visual.stl"/>
      </geometry>
      <material name="DarkGray"/>
    </visual>
    <collision>
      <origin rpy="0 0 0" xyz="0 0 0"/>
      <geometry>
        <mesh filename="package://victor_description/meshes/robotiq_3finger/finger_link3_med_collision.stl"/>
      </geometry>
      <material name="DarkGray"/>
    </collision>
  </link>
  <!-- Joint 4 (med-dist) -->
  <joint name="victor_left_gripper_fingerB_joint_4" type="revolute">
    <parent link="victor_left_gripper_fingerB_med"/>
    <child link="victor_left_gripper_fingerB_dist"/>
    <origin rpy="0 -0.436332312999 0" xyz="0 0 0.03810000"/>
    <axis xyz="0 -1 0"/>
    <limit effort="300" lower="-1" upper="1" velocity="10"/>
    <safety_controller k_position="100" k_velocity="100" soft_lower_limit="-0.436332312999" soft_upper_limit="1.27409035396"/>
    <dynamics damping="0.5"/>
  </joint>
  <link name="victor_left_gripper_fingerB_dist">
    <inertial>
      <origin rpy="0 0 0" xyz="0 0 0"/>
      <mass value="1"/>
      <inertia ixx="0.01" ixy="0" ixz="0" iyy="0.01" iyz="0" izz="0.01"/>
    </inertial>
    <visual>
      <origin rpy="0 0 0" xyz="0 0 0"/>
      <geometry>
        <mesh filename="package://victor_description/meshes/robotiq_3finger/finger_link4_dist_visual.stl"/>
      </geometry>
      <material name="DarkGray"/>
    </visual>
    <collision>
      <origin rpy="0 0 0" xyz="0 0 0"/>
      <geometry>
        <mesh filename="package://victor_description/meshes/robotiq_3finger/finger_link4_dist_collision.stl"/>
      </geometry>
      <material name="DarkGray"/>
    </collision>
  </link>
  <!-- Finger C -->
  <joint name="victor_left_gripper_fingerC_knuckle" type="revolute">
    <origin rpy="0 0 3.14159265359" xyz="-0.02230120 -0.03651250 0.06111875"/>
    <parent link="victor_left_gripper_palm"/>
    <child link="victor_left_gripper_fingerC_base"/>
    <axis xyz="1 0 0"/>
    <limit effort="300" lower="-0.279252680319" upper="0.174532925199" velocity="10"/>
    <safety_controller k_position="100" k_velocity="100" soft_lower_limit="-0.244346095279" soft_upper_limit="0.13962634016"/>
    <dynamics damping="0.5"/>
  </joint>
  <link name="victor_left_gripper_fingerC_base">
    <inertial>
      <origin rpy="0 0 0" xyz="0 0 0"/>
      <mass value="1"/>
      <inertia ixx="0.01" ixy="0" ixz="0" iyy="0.01" iyz="0" izz="0.01"/>
    </inertial>
    <visual>
      <origin rpy="0 0 0" xyz="0 0 0"/>
      <geometry>
        <mesh filename="package://victor_description/meshes/robotiq_3finger/finger_link1_base_visual.stl"/>
      </geometry>
      <material name="DarkGray"/>
    </visual>
    <collision>
      <origin rpy="0 0 0" xyz="0 0 0"/>
      <geometry>
        <mesh filename="package://victor_description/meshes/robotiq_3finger/finger_link1_base_visual.stl"/>
      </geometry>
      <material name="DarkGray"/>
    </collision>
  </link>
  <!-- Joint 2 (base-prox) -->
  <joint name="victor_left_gripper_fingerC_joint_2" type="revolute">
    <parent link="victor_left_gripper_fingerC_base"/>
    <child link="victor_left_gripper_fingerC_prox"/>
    <origin rpy="0 0.610865238198 0" xyz="0.02225000 0 0.02151380"/>
    <axis xyz="0 -1 0"/>
    <limit effort="300" lower="0" upper="1.2217304763960307" velocity="10"/>
    <safety_controller k_position="100" k_velocity="100" soft_lower_limit="-0.610865238198" soft_upper_limit="0.610865238198"/>
    <dynamics damping="0.5"/>
  </joint>
  <link name="victor_left_gripper_fingerC_prox">
    <inertial>
      <origin rpy="0 0 0" xyz="0 0 0"/>
      <mass value="1"/>
      <inertia ixx="0.01" ixy="0" ixz="0" iyy="0.01" iyz="0" izz="0.01"/>
    </inertial>
    <visual>
      <origin rpy="0 0 0" xyz="0 0 0"/>
      <geometry>
        <mesh filename="package://victor_description/meshes/robotiq_3finger/finger_link2_prox_visual.stl"/>
      </geometry>
      <material name="DarkGray"/>
    </visual>
    <collision>
      <origin rpy="0 0 0" xyz="0 0 0"/>
      <geometry>
        <mesh filename="package://victor_description/meshes/robotiq_3finger/finger_link2_prox_collision.stl"/>
      </geometry>
      <material name="DarkGray"/>
    </collision>
  </link>
  <!-- Joint 3 (prox-med) -->
  <joint name="victor_left_gripper_fingerC_joint_3" type="revolute">
    <parent link="victor_left_gripper_fingerC_prox"/>
    <child link="victor_left_gripper_fingerC_med"/>
    <origin rpy="0 0 0" xyz="0 0 0.05715000"/>
    <axis xyz="0 -1 0"/>
    <limit effort="300" lower="-1" upper="1" velocity="10"/>
    <safety_controller k_position="100" k_velocity="100" soft_lower_limit="0.0" soft_upper_limit="1.57079632679"/>
    <dynamics damping="0.5"/>
  </joint>
  <link name="victor_left_gripper_fingerC_med">
    <inertial>
      <origin rpy="0 0 0" xyz="0 0 0"/>
      <mass value="1"/>
      <inertia ixx="0.01" ixy="0" ixz="0" iyy="0.01" iyz="0" izz="0.01"/>
    </inertial>
    <visual>
      <origin rpy="0 0 0" xyz="0 0 0"/>
      <geometry>
        <mesh filename="package://victor_description/meshes/robotiq_3finger/finger_link3_med_visual.stl"/>
      </geometry>
      <material name="DarkGray"/>
    </visual>
    <collision>
      <origin rpy="0 0 0" xyz="0 0 0"/>
      <geometry>
        <mesh filename="package://victor_description/meshes/robotiq_3finger/finger_link3_med_collision.stl"/>
      </geometry>
      <material name="DarkGray"/>
    </collision>
  </link>
  <!-- Joint 4 (med-dist) -->
  <joint name="victor_left_gripper_fingerC_joint_4" type="revolute">
    <parent link="victor_left_gripper_fingerC_med"/>
    <child link="victor_left_gripper_fingerC_dist"/>
    <origin rpy="0 -0.436332312999 0" xyz="0 0 0.03810000"/>
    <axis xyz="0 -1 0"/>
    <limit effort="300" lower="-1" upper="1" velocity="10"/>
    <safety_controller k_position="100" k_velocity="100" soft_lower_limit="-0.436332312999" soft_upper_limit="1.27409035396"/>
    <dynamics damping="0.5"/>
  </joint>
  <link name="victor_left_gripper_fingerC_dist">
    <inertial>
      <origin rpy="0 0 0" xyz="0 0 0"/>
      <mass value="1"/>
      <inertia ixx="0.01" ixy="0" ixz="0" iyy="0.01" iyz="0" izz="0.01"/>
    </inertial>
    <visual>
      <origin rpy="0 0 0" xyz="0 0 0"/>
      <geometry>
        <mesh filename="package://victor_description/meshes/robotiq_3finger/finger_link4_dist_visual.stl"/>
      </geometry>
      <material name="DarkGray"/>
    </visual>
    <collision>
      <origin rpy="0 0 0" xyz="0 0 0"/>
      <geometry>
        <mesh filename="package://victor_description/meshes/robotiq_3finger/finger_link4_dist_collision.stl"/>
      </geometry>
      <material name="DarkGray"/>
    </collision>
  </link>
  <transmission name="victor_left_gripper_tran_A2">
    <type>transmission_interface/SimpleTransmission</type>
    <joint name="victor_left_gripper_fingerA_joint_2">
      <hardwareInterface>hardware_interface/EffortJointInterface</hardwareInterface>
    </joint>
    <actuator name="victor_left_gripper_motor_A2">
      <mechanicalReduction>1</mechanicalReduction>
    </actuator>
  </transmission>
  <transmission name="victor_left_gripper_tran_A3">
    <type>transmission_interface/SimpleTransmission</type>
    <joint name="victor_left_gripper_fingerA_joint_3">
      <hardwareInterface>hardware_interface/EffortJointInterface</hardwareInterface>
    </joint>
    <actuator name="victor_left_gripper_motor_A3">
      <mechanicalReduction>1</mechanicalReduction>
    </actuator>
  </transmission>
  <transmission name="victor_left_gripper_tran_A4">
    <type>transmission_interface/SimpleTransmission</type>
    <joint name="victor_left_gripper_fingerA_joint_4">
      <hardwareInterface>hardware_interface/EffortJointInterface</hardwareInterface>
    </joint>
    <actuator name="victor_left_gripper_motor_A4">
      <mechanicalReduction>1</mechanicalReduction>
    </actuator>
  </transmission>
  <transmission name="victor_left_gripper_tran_B2">
    <type>transmission_interface/SimpleTransmission</type>
    <joint name="victor_left_gripper_fingerB_joint_2">
      <hardwareInterface>hardware_interface/EffortJointInterface</hardwareInterface>
    </joint>
    <actuator name="victor_left_gripper_motor_B2">
      <mechanicalReduction>1</mechanicalReduction>
    </actuator>
  </transmission>
  <transmission name="victor_left_gripper_tran_B3">
    <type>transmission_interface/SimpleTransmission</type>
    <joint name="victor_left_gripper_fingerB_joint_3">
      <hardwareInterface>hardware_interface/EffortJointInterface</hardwareInterface>
    </joint>
    <actuator name="victor_left_gripper_motor_B3">
      <mechanicalReduction>1</mechanicalReduction>
    </actuator>
  </transmission>
  <transmission name="victor_left_gripper_tran_B4">
    <type>transmission_interface/SimpleTransmission</type>
    <joint name="victor_left_gripper_fingerB_joint_4">
      <hardwareInterface>hardware_interface/EffortJointInterface</hardwareInterface>
    </joint>
    <actuator name="victor_left_gripper_motor_B4">
      <mechanicalReduction>1</mechanicalReduction>
    </actuator>
  </transmission>
  <transmission name="victor_left_gripper_tran_C2">
    <type>transmission_interface/SimpleTransmission</type>
    <joint name="victor_left_gripper_fingerC_joint_2">
      <hardwareInterface>hardware_interface/EffortJointInterface</hardwareInterface>
    </joint>
    <actuator name="victor_left_gripper_motor_C2">
      <mechanicalReduction>1</mechanicalReduction>
    </actuator>
  </transmission>
  <transmission name="victor_left_gripper_tran_C3">
    <type>transmission_interface/SimpleTransmission</type>
    <joint name="victor_left_gripper_fingerC_joint_3">
      <hardwareInterface>hardware_interface/EffortJointInterface</hardwareInterface>
    </joint>
    <actuator name="victor_left_gripper_motor_C3">
      <mechanicalReduction>1</mechanicalReduction>
    </actuator>
  </transmission>
  <transmission name="victor_left_gripper_tran_C4">
    <type>transmission_interface/SimpleTransmission</type>
    <joint name="victor_left_gripper_fingerC_joint_4">
      <hardwareInterface>hardware_interface/EffortJointInterface</hardwareInterface>
    </joint>
    <actuator name="victor_left_gripper_motor_C4">
      <mechanicalReduction>1</mechanicalReduction>
    </actuator>
  </transmission>
  <transmission name="victor_left_gripper_tran_Bknuckle">
    <type>transmission_interface/SimpleTransmission</type>
    <joint name="victor_left_gripper_fingerB_knuckle">
      <hardwareInterface>hardware_interface/EffortJointInterface</hardwareInterface>
    </joint>
    <actuator name="victor_left_gripper_motor_Bknuckle">
      <mechanicalReduction>1</mechanicalReduction>
    </actuator>
  </transmission>
  <transmission name="victor_left_gripper_tran_Cknuckle">
    <type>transmission_interface/SimpleTransmission</type>
    <joint name="victor_left_gripper_fingerC_knuckle">
      <hardwareInterface>hardware_interface/EffortJointInterface</hardwareInterface>
    </joint>
    <actuator name="victor_left_gripper_motor_Cknuckle">
      <mechanicalReduction>1</mechanicalReduction>
    </actuator>
  </transmission>
  <joint name="victor_right_gripper_palm_joint" type="fixed">
    <origin rpy="0 0 0.785398163397" xyz="0 0 0.02705"/>
    <parent link="victor_right_gripper_mounting_bracket"/>
    <child link="victor_right_gripper_palm"/>
  </joint>
  <link name="victor_right_gripper_palm">
    <inertial>
      <origin rpy="0 0 0" xyz="0 0 0"/>
      <mass value="1"/>
      <inertia ixx="0.01" ixy="0" ixz="0" iyy="0.01" iyz="0" izz="0.01"/>
    </inertial>
    <visual>
      <origin rpy="0 0 0" xyz="0 0 0"/>
      <geometry>
        <mesh filename="package://victor_description/meshes/robotiq_3finger/palm_visual.stl"/>
      </geometry>
      <material name="DarkGray"/>
    </visual>
    <collision>
      <origin rpy="0 0 0" xyz="0 0 0"/>
      <geometry>
        <mesh filename="package://victor_description/meshes/robotiq_3finger/palm_collision.stl"/>
      </geometry>
      <material name="DarkGray"/>
    </collision>
  </link>
  <!-- Palm surface aligned with the gripper axis -->
  <joint name="victor_right_gripper_palm_surface_joint" type="fixed">
    <parent link="victor_right_gripper_palm"/>
    <child link="victor_right_gripper_palm_surface"/>
    <origin rpy="0 0 0" xyz="0 0 0.092075"/>
  </joint>
  <link name="victor_right_gripper_palm_surface">
        </link>
  <!-- Kuka internal frame has been changed to match our external usage, so identity transform -->
  <joint name="victor_right_gripper_palm_surface_kuka_joint" type="fixed">
    <parent link="victor_right_gripper_palm_surface"/>
    <child link="victor_right_gripper_palm_surface_kuka"/>
    <origin rpy="0 0 0" xyz="0 0 0"/>
  </joint>
  <link name="victor_right_gripper_palm_surface_kuka">
        </link>
  <!-- Finger A -->
  <joint name="victor_right_gripper_fingerA_knuckle" type="fixed">
    <origin rpy="0 0 0" xyz="0.02225040 0 0.06111875"/>
    <parent link="victor_right_gripper_palm"/>
    <child link="victor_right_gripper_fingerA_base"/>
  </joint>
  <link name="victor_right_gripper_fingerA_base">
    <inertial>
      <origin rpy="0 0 0" xyz="0 0 0"/>
      <mass value="1"/>
      <inertia ixx="0.01" ixy="0" ixz="0" iyy="0.01" iyz="0" izz="0.01"/>
    </inertial>
    <visual>
      <origin rpy="0 0 0" xyz="0 0 0"/>
      <geometry>
        <mesh filename="package://victor_description/meshes/robotiq_3finger/finger_link1_base_visual.stl"/>
      </geometry>
      <material name="DarkGray"/>
    </visual>
    <collision>
      <origin rpy="0 0 0" xyz="0 0 0"/>
      <geometry>
        <mesh filename="package://victor_description/meshes/robotiq_3finger/finger_link1_base_visual.stl"/>
      </geometry>
      <material name="DarkGray"/>
    </collision>
  </link>
  <!-- Joint 2 (base-prox) -->
  <joint name="victor_right_gripper_fingerA_joint_2" type="revolute">
    <parent link="victor_right_gripper_fingerA_base"/>
    <child link="victor_right_gripper_fingerA_prox"/>
    <origin rpy="0 0.610865238198 0" xyz="0.02225000 0 0.02151380"/>
    <axis xyz="0 -1 0"/>
    <limit effort="300" lower="0" upper="1.2217304763960307" velocity="10"/>
    <safety_controller k_position="100" k_velocity="100" soft_lower_limit="-0.610865238198" soft_upper_limit="0.610865238198"/>
    <dynamics damping="0.5"/>
  </joint>
  <link name="victor_right_gripper_fingerA_prox">
    <inertial>
      <origin rpy="0 0 0" xyz="0 0 0"/>
      <mass value="1"/>
      <inertia ixx="0.01" ixy="0" ixz="0" iyy="0.01" iyz="0" izz="0.01"/>
    </inertial>
    <visual>
      <origin rpy="0 0 0" xyz="0 0 0"/>
      <geometry>
        <mesh filename="package://victor_description/meshes/robotiq_3finger/finger_link2_prox_visual.stl"/>
      </geometry>
      <material name="DarkGray"/>
    </visual>
    <collision>
      <origin rpy="0 0 0" xyz="0 0 0"/>
      <geometry>
        <mesh filename="package://victor_description/meshes/robotiq_3finger/finger_link2_prox_collision.stl"/>
      </geometry>
      <material name="DarkGray"/>
    </collision>
  </link>
  <!-- Joint 3 (prox-med) -->
  <joint name="victor_right_gripper_fingerA_joint_3" type="revolute">
    <parent link="victor_right_gripper_fingerA_prox"/>
    <child link="victor_right_gripper_fingerA_med"/>
    <origin rpy="0 0 0" xyz="0 0 0.05715000"/>
    <axis xyz="0 -1 0"/>
    <limit effort="300" lower="-1" upper="1" velocity="10"/>
    <safety_controller k_position="100" k_velocity="100" soft_lower_limit="0.0" soft_upper_limit="1.57079632679"/>
    <dynamics damping="0.5"/>
  </joint>
  <link name="victor_right_gripper_fingerA_med">
    <inertial>
      <origin rpy="0 0 0" xyz="0 0 0"/>
      <mass value="1"/>
      <inertia ixx="0.01" ixy="0" ixz="0" iyy="0.01" iyz="0" izz="0.01"/>
    </inertial>
    <visual>
      <origin rpy="0 0 0" xyz="0 0 0"/>
      <geometry>
        <mesh filename="package://victor_description/meshes/robotiq_3finger/finger_link3_med_visual.stl"/>
      </geometry>
      <material name="DarkGray"/>
    </visual>
    <collision>
      <origin rpy="0 0 0" xyz="0 0 0"/>
      <geometry>
        <mesh filename="package://victor_description/meshes/robotiq_3finger/finger_link3_med_collision.stl"/>
      </geometry>
      <material name="DarkGray"/>
    </collision>
  </link>
  <!-- Joint 4 (med-dist) -->
  <joint name="victor_right_gripper_fingerA_joint_4" type="revolute">
    <parent link="victor_right_gripper_fingerA_med"/>
    <child link="victor_right_gripper_fingerA_dist"/>
    <origin rpy="0 -0.436332312999 0" xyz="0 0 0.03810000"/>
    <axis xyz="0 -1 0"/>
    <limit effort="300" lower="-1" upper="1" velocity="10"/>
    <safety_controller k_position="100" k_velocity="100" soft_lower_limit="-0.436332312999" soft_upper_limit="1.27409035396"/>
    <dynamics damping="0.5"/>
  </joint>
  <link name="victor_right_gripper_fingerA_dist">
    <inertial>
      <origin rpy="0 0 0" xyz="0 0 0"/>
      <mass value="1"/>
      <inertia ixx="0.01" ixy="0" ixz="0" iyy="0.01" iyz="0" izz="0.01"/>
    </inertial>
    <visual>
      <origin rpy="0 0 0" xyz="0 0 0"/>
      <geometry>
        <mesh filename="package://victor_description/meshes/robotiq_3finger/finger_link4_dist_visual.stl"/>
      </geometry>
      <material name="DarkGray"/>
    </visual>
    <collision>
      <origin rpy="0 0 0" xyz="0 0 0"/>
      <geometry>
        <mesh filename="package://victor_description/meshes/robotiq_3finger/finger_link4_dist_collision.stl"/>
      </geometry>
      <material name="DarkGray"/>
    </collision>
  </link>
  <!-- Finger B -->
  <joint name="victor_right_gripper_fingerB_knuckle" type="revolute">
    <origin rpy="0 0 3.14159265359" xyz="-0.02230120 0.03651250 0.06111875"/>
    <parent link="victor_right_gripper_palm"/>
    <child link="victor_right_gripper_fingerB_base"/>
    <axis xyz="-1 0 0"/>
    <limit effort="300" lower="-0.279252680319" upper="0.174532925199" velocity="10"/>
    <safety_controller k_position="100" k_velocity="100" soft_lower_limit="-0.244346095279" soft_upper_limit="0.13962634016"/>
    <dynamics damping="0.5"/>
  </joint>
  <link name="victor_right_gripper_fingerB_base">
    <inertial>
      <origin rpy="0 0 0" xyz="0 0 0"/>
      <mass value="1"/>
      <inertia ixx="0.01" ixy="0" ixz="0" iyy="0.01" iyz="0" izz="0.01"/>
    </inertial>
    <visual>
      <origin rpy="0 0 0" xyz="0 0 0"/>
      <geometry>
        <mesh filename="package://victor_description/meshes/robotiq_3finger/finger_link1_base_visual.stl"/>
      </geometry>
      <material name="DarkGray"/>
    </visual>
    <collision>
      <origin rpy="0 0 0" xyz="0 0 0"/>
      <geometry>
        <mesh filename="package://victor_description/meshes/robotiq_3finger/finger_link1_base_visual.stl"/>
      </geometry>
      <material name="DarkGray"/>
    </collision>
  </link>
  <!-- Joint 2 (base-prox) -->
  <joint name="victor_right_gripper_fingerB_joint_2" type="revolute">
    <parent link="victor_right_gripper_fingerB_base"/>
    <child link="victor_right_gripper_fingerB_prox"/>
    <origin rpy="0 0.610865238198 0" xyz="0.02225000 0 0.02151380"/>
    <axis xyz="0 -1 0"/>
    <limit effort="300" lower="0" upper="1.2217304763960307" velocity="10"/>
    <safety_controller k_position="100" k_velocity="100" soft_lower_limit="-0.610865238198" soft_upper_limit="0.610865238198"/>
    <dynamics damping="0.5"/>
  </joint>
  <link name="victor_right_gripper_fingerB_prox">
    <inertial>
      <origin rpy="0 0 0" xyz="0 0 0"/>
      <mass value="1"/>
      <inertia ixx="0.01" ixy="0" ixz="0" iyy="0.01" iyz="0" izz="0.01"/>
    </inertial>
    <visual>
      <origin rpy="0 0 0" xyz="0 0 0"/>
      <geometry>
        <mesh filename="package://victor_description/meshes/robotiq_3finger/finger_link2_prox_visual.stl"/>
      </geometry>
      <material name="DarkGray"/>
    </visual>
    <collision>
      <origin rpy="0 0 0" xyz="0 0 0"/>
      <geometry>
        <mesh filename="package://victor_description/meshes/robotiq_3finger/finger_link2_prox_collision.stl"/>
      </geometry>
      <material name="DarkGray"/>
    </collision>
  </link>
  <!-- Joint 3 (prox-med) -->
  <joint name="victor_right_gripper_fingerB_joint_3" type="revolute">
    <parent link="victor_right_gripper_fingerB_prox"/>
    <child link="victor_right_gripper_fingerB_med"/>
    <origin rpy="0 0 0" xyz="0 0 0.05715000"/>
    <axis xyz="0 -1 0"/>
    <limit effort="300" lower="-1" upper="1" velocity="10"/>
    <safety_controller k_position="100" k_velocity="100" soft_lower_limit="0.0" soft_upper_limit="1.57079632679"/>
    <dynamics damping="0.5"/>
  </joint>
  <link name="victor_right_gripper_fingerB_med">
    <inertial>
      <origin rpy="0 0 0" xyz="0 0 0"/>
      <mass value="1"/>
      <inertia ixx="0.01" ixy="0" ixz="0" iyy="0.01" iyz="0" izz="0.01"/>
    </inertial>
    <visual>
      <origin rpy="0 0 0" xyz="0 0 0"/>
      <geometry>
        <mesh filename="package://victor_description/meshes/robotiq_3finger/finger_link3_med_visual.stl"/>
      </geometry>
      <material name="DarkGray"/>
    </visual>
    <collision>
      <origin rpy="0 0 0" xyz="0 0 0"/>
      <geometry>
        <mesh filename="package://victor_description/meshes/robotiq_3finger/finger_link3_med_collision.stl"/>
      </geometry>
      <material name="DarkGray"/>
    </collision>
  </link>
  <!-- Joint 4 (med-dist) -->
  <joint name="victor_right_gripper_fingerB_joint_4" type="revolute">
    <parent link="victor_right_gripper_fingerB_med"/>
    <child link="victor_right_gripper_fingerB_dist"/>
    <origin rpy="0 -0.436332312999 0" xyz="0 0 0.03810000"/>
    <axis xyz="0 -1 0"/>
    <limit effort="300" lower="-1" upper="1" velocity="10"/>
    <safety_controller k_position="100" k_velocity="100" soft_lower_limit="-0.436332312999" soft_upper_limit="1.27409035396"/>
    <dynamics damping="0.5"/>
  </joint>
  <link name="victor_right_gripper_fingerB_dist">
    <inertial>
      <origin rpy="0 0 0" xyz="0 0 0"/>
      <mass value="1"/>
      <inertia ixx="0.01" ixy="0" ixz="0" iyy="0.01" iyz="0" izz="0.01"/>
    </inertial>
    <visual>
      <origin rpy="0 0 0" xyz="0 0 0"/>
      <geometry>
        <mesh filename="package://victor_description/meshes/robotiq_3finger/finger_link4_dist_visual.stl"/>
      </geometry>
      <material name="DarkGray"/>
    </visual>
    <collision>
      <origin rpy="0 0 0" xyz="0 0 0"/>
      <geometry>
        <mesh filename="package://victor_description/meshes/robotiq_3finger/finger_link4_dist_collision.stl"/>
      </geometry>
      <material name="DarkGray"/>
    </collision>
  </link>
  <!-- Finger C -->
  <joint name="victor_right_gripper_fingerC_knuckle" type="revolute">
    <origin rpy="0 0 3.14159265359" xyz="-0.02230120 -0.03651250 0.06111875"/>
    <parent link="victor_right_gripper_palm"/>
    <child link="victor_right_gripper_fingerC_base"/>
    <axis xyz="1 0 0"/>
    <limit effort="300" lower="-0.279252680319" upper="0.174532925199" velocity="10"/>
    <safety_controller k_position="100" k_velocity="100" soft_lower_limit="-0.244346095279" soft_upper_limit="0.13962634016"/>
    <dynamics damping="0.5"/>
  </joint>
  <link name="victor_right_gripper_fingerC_base">
    <inertial>
      <origin rpy="0 0 0" xyz="0 0 0"/>
      <mass value="1"/>
      <inertia ixx="0.01" ixy="0" ixz="0" iyy="0.01" iyz="0" izz="0.01"/>
    </inertial>
    <visual>
      <origin rpy="0 0 0" xyz="0 0 0"/>
      <geometry>
        <mesh filename="package://victor_description/meshes/robotiq_3finger/finger_link1_base_visual.stl"/>
      </geometry>
      <material name="DarkGray"/>
    </visual>
    <collision>
      <origin rpy="0 0 0" xyz="0 0 0"/>
      <geometry>
        <mesh filename="package://victor_description/meshes/robotiq_3finger/finger_link1_base_visual.stl"/>
      </geometry>
      <material name="DarkGray"/>
    </collision>
  </link>
  <!-- Joint 2 (base-prox) -->
  <joint name="victor_right_gripper_fingerC_joint_2" type="revolute">
    <parent link="victor_right_gripper_fingerC_base"/>
    <child link="victor_right_gripper_fingerC_prox"/>
    <origin rpy="0 0.610865238198 0" xyz="0.02225000 0 0.02151380"/>
    <axis xyz="0 -1 0"/>
    <limit effort="300" lower="0" upper="1.2217304763960307" velocity="10"/>
    <safety_controller k_position="100" k_velocity="100" soft_lower_limit="-0.610865238198" soft_upper_limit="0.610865238198"/>
    <dynamics damping="0.5"/>
  </joint>
  <link name="victor_right_gripper_fingerC_prox">
    <inertial>
      <origin rpy="0 0 0" xyz="0 0 0"/>
      <mass value="1"/>
      <inertia ixx="0.01" ixy="0" ixz="0" iyy="0.01" iyz="0" izz="0.01"/>
    </inertial>
    <visual>
      <origin rpy="0 0 0" xyz="0 0 0"/>
      <geometry>
        <mesh filename="package://victor_description/meshes/robotiq_3finger/finger_link2_prox_visual.stl"/>
      </geometry>
      <material name="DarkGray"/>
    </visual>
    <collision>
      <origin rpy="0 0 0" xyz="0 0 0"/>
      <geometry>
        <mesh filename="package://victor_description/meshes/robotiq_3finger/finger_link2_prox_collision.stl"/>
      </geometry>
      <material name="DarkGray"/>
    </collision>
  </link>
  <!-- Joint 3 (prox-med) -->
  <joint name="victor_right_gripper_fingerC_joint_3" type="revolute">
    <parent link="victor_right_gripper_fingerC_prox"/>
    <child link="victor_right_gripper_fingerC_med"/>
    <origin rpy="0 0 0" xyz="0 0 0.05715000"/>
    <axis xyz="0 -1 0"/>
    <limit effort="300" lower="-1" upper="1" velocity="10"/>
    <safety_controller k_position="100" k_velocity="100" soft_lower_limit="0.0" soft_upper_limit="1.57079632679"/>
    <dynamics damping="0.5"/>
  </joint>
  <link name="victor_right_gripper_fingerC_med">
    <inertial>
      <origin rpy="0 0 0" xyz="0 0 0"/>
      <mass value="1"/>
      <inertia ixx="0.01" ixy="0" ixz="0" iyy="0.01" iyz="0" izz="0.01"/>
    </inertial>
    <visual>
      <origin rpy="0 0 0" xyz="0 0 0"/>
      <geometry>
        <mesh filename="package://victor_description/meshes/robotiq_3finger/finger_link3_med_visual.stl"/>
      </geometry>
      <material name="DarkGray"/>
    </visual>
    <collision>
      <origin rpy="0 0 0" xyz="0 0 0"/>
      <geometry>
        <mesh filename="package://victor_description/meshes/robotiq_3finger/finger_link3_med_collision.stl"/>
      </geometry>
      <material name="DarkGray"/>
    </collision>
  </link>
  <!-- Joint 4 (med-dist) -->
  <joint name="victor_right_gripper_fingerC_joint_4" type="revolute">
    <parent link="victor_right_gripper_fingerC_med"/>
    <child link="victor_right_gripper_fingerC_dist"/>
    <origin rpy="0 -0.436332312999 0" xyz="0 0 0.03810000"/>
    <axis xyz="0 -1 0"/>
    <limit effort="300" lower="-1" upper="1" velocity="10"/>
    <safety_controller k_position="100" k_velocity="100" soft_lower_limit="-0.436332312999" soft_upper_limit="1.27409035396"/>
    <dynamics damping="0.5"/>
  </joint>
  <link name="victor_right_gripper_fingerC_dist">
    <inertial>
      <origin rpy="0 0 0" xyz="0 0 0"/>
      <mass value="1"/>
      <inertia ixx="0.01" ixy="0" ixz="0" iyy="0.01" iyz="0" izz="0.01"/>
    </inertial>
    <visual>
      <origin rpy="0 0 0" xyz="0 0 0"/>
      <geometry>
        <mesh filename="package://victor_description/meshes/robotiq_3finger/finger_link4_dist_visual.stl"/>
      </geometry>
      <material name="DarkGray"/>
    </visual>
    <collision>
      <origin rpy="0 0 0" xyz="0 0 0"/>
      <geometry>
        <mesh filename="package://victor_description/meshes/robotiq_3finger/finger_link4_dist_collision.stl"/>
      </geometry>
      <material name="DarkGray"/>
    </collision>
  </link>
  <transmission name="victor_right_gripper_tran_A2">
    <type>transmission_interface/SimpleTransmission</type>
    <joint name="victor_right_gripper_fingerA_joint_2">
      <hardwareInterface>hardware_interface/EffortJointInterface</hardwareInterface>
    </joint>
    <actuator name="victor_right_gripper_motor_A2">
      <mechanicalReduction>1</mechanicalReduction>
    </actuator>
  </transmission>
  <transmission name="victor_right_gripper_tran_A3">
    <type>transmission_interface/SimpleTransmission</type>
    <joint name="victor_right_gripper_fingerA_joint_3">
      <hardwareInterface>hardware_interface/EffortJointInterface</hardwareInterface>
    </joint>
    <actuator name="victor_right_gripper_motor_A3">
      <mechanicalReduction>1</mechanicalReduction>
    </actuator>
  </transmission>
  <transmission name="victor_right_gripper_tran_A4">
    <type>transmission_interface/SimpleTransmission</type>
    <joint name="victor_right_gripper_fingerA_joint_4">
      <hardwareInterface>hardware_interface/EffortJointInterface</hardwareInterface>
    </joint>
    <actuator name="victor_right_gripper_motor_A4">
      <mechanicalReduction>1</mechanicalReduction>
    </actuator>
  </transmission>
  <transmission name="victor_right_gripper_tran_B2">
    <type>transmission_interface/SimpleTransmission</type>
    <joint name="victor_right_gripper_fingerB_joint_2">
      <hardwareInterface>hardware_interface/EffortJointInterface</hardwareInterface>
    </joint>
    <actuator name="victor_right_gripper_motor_B2">
      <mechanicalReduction>1</mechanicalReduction>
    </actuator>
  </transmission>
  <transmission name="victor_right_gripper_tran_B3">
    <type>transmission_interface/SimpleTransmission</type>
    <joint name="victor_right_gripper_fingerB_joint_3">
      <hardwareInterface>hardware_interface/EffortJointInterface</hardwareInterface>
    </joint>
    <actuator name="victor_right_gripper_motor_B3">
      <mechanicalReduction>1</mechanicalReduction>
    </actuator>
  </transmission>
  <transmission name="victor_right_gripper_tran_B4">
    <type>transmission_interface/SimpleTransmission</type>
    <joint name="victor_right_gripper_fingerB_joint_4">
      <hardwareInterface>hardware_interface/EffortJointInterface</hardwareInterface>
    </joint>
    <actuator name="victor_right_gripper_motor_B4">
      <mechanicalReduction>1</mechanicalReduction>
    </actuator>
  </transmission>
  <transmission name="victor_right_gripper_tran_C2">
    <type>transmission_interface/SimpleTransmission</type>
    <joint name="victor_right_gripper_fingerC_joint_2">
      <hardwareInterface>hardware_interface/EffortJointInterface</hardwareInterface>
    </joint>
    <actuator name="victor_right_gripper_motor_C2">
      <mechanicalReduction>1</mechanicalReduction>
    </actuator>
  </transmission>
  <transmission name="victor_right_gripper_tran_C3">
    <type>transmission_interface/SimpleTransmission</type>
    <joint name="victor_right_gripper_fingerC_joint_3">
      <hardwareInterface>hardware_interface/EffortJointInterface</hardwareInterface>
    </joint>
    <actuator name="victor_right_gripper_motor_C3">
      <mechanicalReduction>1</mechanicalReduction>
    </actuator>
  </transmission>
  <transmission name="victor_right_gripper_tran_C4">
    <type>transmission_interface/SimpleTransmission</type>
    <joint name="victor_right_gripper_fingerC_joint_4">
      <hardwareInterface>hardware_interface/EffortJointInterface</hardwareInterface>
    </joint>
    <actuator name="victor_right_gripper_motor_C4">
      <mechanicalReduction>1</mechanicalReduction>
    </actuator>
  </transmission>
  <transmission name="victor_right_gripper_tran_Bknuckle">
    <type>transmission_interface/SimpleTransmission</type>
    <joint name="victor_right_gripper_fingerB_knuckle">
      <hardwareInterface>hardware_interface/EffortJointInterface</hardwareInterface>
    </joint>
    <actuator name="victor_right_gripper_motor_Bknuckle">
      <mechanicalReduction>1</mechanicalReduction>
    </actuator>
  </transmission>
  <transmission name="victor_right_gripper_tran_Cknuckle">
    <type>transmission_interface/SimpleTransmission</type>
    <joint name="victor_right_gripper_fingerC_knuckle">
      <hardwareInterface>hardware_interface/EffortJointInterface</hardwareInterface>
    </joint>
    <actuator name="victor_right_gripper_motor_Cknuckle">
      <mechanicalReduction>1</mechanicalReduction>
    </actuator>
  </transmission>
  <gazebo>
    <plugin filename="libgazebo_ros_control.so" name="gazebo_ros_control">
      <!--<robotNamespace>/${robot_namespace}</robotNamespace>-->
      <robotNamespace>/</robotNamespace>
      <legacyModeNS>false</legacyModeNS>
    </plugin>
  </gazebo>
  <gazebo>
    <!-- Unreferenced block is assumed to apply to the robot model -->
    <!-- Don't forget to update Gazebo path: `export GAZEBO_PLUGIN_PATH=${GAZEBO_PLUGIN_PATH}:~/catkin_ws/devel/lib` -->
    <plugin filename="libvictor_gazebo_plugins.so" name="victor_left_hand_control_plugin">
      <side name="left"/>
    </plugin>
    <plugin filename="libvictor_gazebo_plugins.so" name="victor_right_hand_control_plugin">
      <side name="right"/>
    </plugin>
  </gazebo>
  <gazebo reference="victor_left_gripper_fingerA_base">
    <collision>
      <surface>
        <bounce>
          <restitution_coefficient>0.15</restitution_coefficient>
        </bounce>
        <contact>
          <ode>
            <soft_cfm>0.5</soft_cfm>
            <soft_erp>0.8</soft_erp>
            <kp>100000</kp>
            <min_depth>0.0001</min_depth>
          </ode>
        </contact>
      </surface>
    </collision>
  </gazebo>
  <gazebo reference="victor_left_gripper_fingerA_prox">
    <collision>
      <surface>
        <bounce>
          <restitution_coefficient>0.15</restitution_coefficient>
        </bounce>
        <contact>
          <ode>
            <soft_cfm>0.5</soft_cfm>
            <soft_erp>0.8</soft_erp>
            <kp>100000</kp>
            <min_depth>0.0001</min_depth>
          </ode>
        </contact>
      </surface>
    </collision>
  </gazebo>
  <gazebo reference="victor_left_gripper_fingerA_med">
    <collision>
      <surface>
        <bounce>
          <restitution_coefficient>0.15</restitution_coefficient>
        </bounce>
        <contact>
          <ode>
            <soft_cfm>0.5</soft_cfm>
            <soft_erp>0.8</soft_erp>
            <kp>100000</kp>
            <min_depth>0.0001</min_depth>
          </ode>
        </contact>
      </surface>
    </collision>
  </gazebo>
  <gazebo reference="victor_left_gripper_fingerA_dist">
    <collision>
      <surface>
        <bounce>
          <restitution_coefficient>0.15</restitution_coefficient>
        </bounce>
        <contact>
          <ode>
            <soft_cfm>0.5</soft_cfm>
            <soft_erp>0.8</soft_erp>
            <kp>100000</kp>
            <min_depth>0.0001</min_depth>
          </ode>
        </contact>
      </surface>
    </collision>
  </gazebo>
  <gazebo reference="victor_left_gripper_fingerA_joint_2">
    <axis>
      <dynamics>
        <spring_stiffness>0.1</spring_stiffness>
        <spring_reference>0.0</spring_reference>
        <damping>0.5</damping>
      </dynamics>
    </axis>
  </gazebo>
  <gazebo reference="victor_left_gripper_fingerA_joint_3">
    <axis>
      <dynamics>
        <spring_stiffness>0.1</spring_stiffness>
        <spring_reference>0.0</spring_reference>
        <damping>0.5</damping>
      </dynamics>
    </axis>
  </gazebo>
  <gazebo reference="victor_left_gripper_fingerA_joint_4">
    <axis>
      <dynamics>
        <spring_stiffness>0.1</spring_stiffness>
        <spring_reference>0.0</spring_reference>
        <damping>0.5</damping>
      </dynamics>
    </axis>
  </gazebo>
  <gazebo reference="victor_left_gripper_fingerB_base">
    <collision>
      <surface>
        <bounce>
          <restitution_coefficient>0.15</restitution_coefficient>
        </bounce>
        <contact>
          <ode>
            <soft_cfm>0.5</soft_cfm>
            <soft_erp>0.8</soft_erp>
            <kp>100000</kp>
            <min_depth>0.0001</min_depth>
          </ode>
        </contact>
      </surface>
    </collision>
  </gazebo>
  <gazebo reference="victor_left_gripper_fingerB_prox">
    <collision>
      <surface>
        <bounce>
          <restitution_coefficient>0.15</restitution_coefficient>
        </bounce>
        <contact>
          <ode>
            <soft_cfm>0.5</soft_cfm>
            <soft_erp>0.8</soft_erp>
            <kp>100000</kp>
            <min_depth>0.0001</min_depth>
          </ode>
        </contact>
      </surface>
    </collision>
  </gazebo>
  <gazebo reference="victor_left_gripper_fingerB_med">
    <collision>
      <surface>
        <bounce>
          <restitution_coefficient>0.15</restitution_coefficient>
        </bounce>
        <contact>
          <ode>
            <soft_cfm>0.5</soft_cfm>
            <soft_erp>0.8</soft_erp>
            <kp>100000</kp>
            <min_depth>0.0001</min_depth>
          </ode>
        </contact>
      </surface>
    </collision>
  </gazebo>
  <gazebo reference="victor_left_gripper_fingerB_dist">
    <collision>
      <surface>
        <bounce>
          <restitution_coefficient>0.15</restitution_coefficient>
        </bounce>
        <contact>
          <ode>
            <soft_cfm>0.5</soft_cfm>
            <soft_erp>0.8</soft_erp>
            <kp>100000</kp>
            <min_depth>0.0001</min_depth>
          </ode>
        </contact>
      </surface>
    </collision>
  </gazebo>
  <gazebo reference="victor_left_gripper_fingerB_joint_2">
    <axis>
      <dynamics>
        <spring_stiffness>0.1</spring_stiffness>
        <spring_reference>0.0</spring_reference>
        <damping>0.5</damping>
      </dynamics>
    </axis>
  </gazebo>
  <gazebo reference="victor_left_gripper_fingerB_joint_3">
    <axis>
      <dynamics>
        <spring_stiffness>0.1</spring_stiffness>
        <spring_reference>0.0</spring_reference>
        <damping>0.5</damping>
      </dynamics>
    </axis>
  </gazebo>
  <gazebo reference="victor_left_gripper_fingerB_joint_4">
    <axis>
      <dynamics>
        <spring_stiffness>0.1</spring_stiffness>
        <spring_reference>0.0</spring_reference>
        <damping>0.5</damping>
      </dynamics>
    </axis>
  </gazebo>
  <gazebo reference="victor_left_gripper_fingerB_base">
    <collision>
      <surface>
        <bounce>
          <restitution_coefficient>0.15</restitution_coefficient>
        </bounce>
        <contact>
          <ode>
            <soft_cfm>0.5</soft_cfm>
            <soft_erp>0.8</soft_erp>
            <kp>100000</kp>
            <min_depth>0.0001</min_depth>
          </ode>
        </contact>
      </surface>
    </collision>
  </gazebo>
  <gazebo reference="victor_left_gripper_fingerB_prox">
    <collision>
      <surface>
        <bounce>
          <restitution_coefficient>0.15</restitution_coefficient>
        </bounce>
        <contact>
          <ode>
            <soft_cfm>0.5</soft_cfm>
            <soft_erp>0.8</soft_erp>
            <kp>100000</kp>
            <min_depth>0.0001</min_depth>
          </ode>
        </contact>
      </surface>
    </collision>
  </gazebo>
  <gazebo reference="victor_left_gripper_fingerB_med">
    <collision>
      <surface>
        <bounce>
          <restitution_coefficient>0.15</restitution_coefficient>
        </bounce>
        <contact>
          <ode>
            <soft_cfm>0.5</soft_cfm>
            <soft_erp>0.8</soft_erp>
            <kp>100000</kp>
            <min_depth>0.0001</min_depth>
          </ode>
        </contact>
      </surface>
    </collision>
  </gazebo>
  <gazebo reference="victor_left_gripper_fingerB_dist">
    <collision>
      <surface>
        <bounce>
          <restitution_coefficient>0.15</restitution_coefficient>
        </bounce>
        <contact>
          <ode>
            <soft_cfm>0.5</soft_cfm>
            <soft_erp>0.8</soft_erp>
            <kp>100000</kp>
            <min_depth>0.0001</min_depth>
          </ode>
        </contact>
      </surface>
    </collision>
  </gazebo>
  <gazebo reference="victor_left_gripper_fingerB_joint_2">
    <axis>
      <dynamics>
        <spring_stiffness>0.1</spring_stiffness>
        <spring_reference>0.0</spring_reference>
        <damping>0.5</damping>
      </dynamics>
    </axis>
  </gazebo>
  <gazebo reference="victor_left_gripper_fingerB_joint_3">
    <axis>
      <dynamics>
        <spring_stiffness>0.1</spring_stiffness>
        <spring_reference>0.0</spring_reference>
        <damping>0.5</damping>
      </dynamics>
    </axis>
  </gazebo>
  <gazebo reference="victor_left_gripper_fingerB_joint_4">
    <axis>
      <dynamics>
        <spring_stiffness>0.1</spring_stiffness>
        <spring_reference>0.0</spring_reference>
        <damping>0.5</damping>
      </dynamics>
    </axis>
  </gazebo>
  <gazebo reference="victor_left_arm_link_7">
    <collision>
      <surface>
        <bounce>
          <restitution_coefficient>0.15</restitution_coefficient>
        </bounce>
        <contact>
          <ode>
            <soft_cfm>0.5</soft_cfm>
            <soft_erp>0.8</soft_erp>
            <kp>100000</kp>
            <min_depth>0.0001</min_depth>
          </ode>
        </contact>
      </surface>
    </collision>
  </gazebo>
  <gazebo reference="victor_left_arm_joint_7">
    <axis>
      <dynamics>
        <spring_stiffness>0.1</spring_stiffness>
        <spring_reference>0.0</spring_reference>
        <damping>0.5</damping>
      </dynamics>
    </axis>
  </gazebo>
  <gazebo reference="victor_left_arm_link_6">
    <collision>
      <surface>
        <bounce>
          <restitution_coefficient>0.15</restitution_coefficient>
        </bounce>
        <contact>
          <ode>
            <soft_cfm>0.5</soft_cfm>
            <soft_erp>0.8</soft_erp>
            <kp>100000</kp>
            <min_depth>0.0001</min_depth>
          </ode>
        </contact>
      </surface>
    </collision>
  </gazebo>
  <gazebo reference="victor_left_arm_joint_6">
    <axis>
      <dynamics>
        <spring_stiffness>0.1</spring_stiffness>
        <spring_reference>0.0</spring_reference>
        <damping>0.5</damping>
      </dynamics>
    </axis>
  </gazebo>
  <gazebo reference="victor_left_arm_link_5">
    <collision>
      <surface>
        <bounce>
          <restitution_coefficient>0.15</restitution_coefficient>
        </bounce>
        <contact>
          <ode>
            <soft_cfm>0.5</soft_cfm>
            <soft_erp>0.8</soft_erp>
            <kp>100000</kp>
            <min_depth>0.0001</min_depth>
          </ode>
        </contact>
      </surface>
    </collision>
  </gazebo>
  <gazebo reference="victor_left_arm_joint_5">
    <axis>
      <dynamics>
        <spring_stiffness>0.1</spring_stiffness>
        <spring_reference>0.0</spring_reference>
        <damping>0.5</damping>
      </dynamics>
    </axis>
  </gazebo>
  <gazebo reference="victor_left_arm_link_4">
    <collision>
      <surface>
        <bounce>
          <restitution_coefficient>0.15</restitution_coefficient>
        </bounce>
        <contact>
          <ode>
            <soft_cfm>0.5</soft_cfm>
            <soft_erp>0.8</soft_erp>
            <kp>100000</kp>
            <min_depth>0.0001</min_depth>
          </ode>
        </contact>
      </surface>
    </collision>
  </gazebo>
  <gazebo reference="victor_left_arm_joint_4">
    <axis>
      <dynamics>
        <spring_stiffness>0.1</spring_stiffness>
        <spring_reference>0.0</spring_reference>
        <damping>0.5</damping>
      </dynamics>
    </axis>
  </gazebo>
  <gazebo reference="victor_left_arm_link_3">
    <collision>
      <surface>
        <bounce>
          <restitution_coefficient>0.15</restitution_coefficient>
        </bounce>
        <contact>
          <ode>
            <soft_cfm>0.5</soft_cfm>
            <soft_erp>0.8</soft_erp>
            <kp>100000</kp>
            <min_depth>0.0001</min_depth>
          </ode>
        </contact>
      </surface>
    </collision>
  </gazebo>
  <gazebo reference="victor_left_arm_joint_3">
    <axis>
      <dynamics>
        <spring_stiffness>0.1</spring_stiffness>
        <spring_reference>0.0</spring_reference>
        <damping>0.5</damping>
      </dynamics>
    </axis>
  </gazebo>
  <gazebo reference="victor_left_arm_link_2">
    <collision>
      <surface>
        <bounce>
          <restitution_coefficient>0.15</restitution_coefficient>
        </bounce>
        <contact>
          <ode>
            <soft_cfm>0.5</soft_cfm>
            <soft_erp>0.8</soft_erp>
            <kp>100000</kp>
            <min_depth>0.0001</min_depth>
          </ode>
        </contact>
      </surface>
    </collision>
  </gazebo>
  <gazebo reference="victor_left_arm_joint_2">
    <axis>
      <dynamics>
        <spring_stiffness>0.1</spring_stiffness>
        <spring_reference>0.0</spring_reference>
        <damping>0.5</damping>
      </dynamics>
    </axis>
  </gazebo>
  <gazebo reference="victor_left_arm_link_1">
    <collision>
      <surface>
        <bounce>
          <restitution_coefficient>0.15</restitution_coefficient>
        </bounce>
        <contact>
          <ode>
            <soft_cfm>0.5</soft_cfm>
            <soft_erp>0.8</soft_erp>
            <kp>100000</kp>
            <min_depth>0.0001</min_depth>
          </ode>
        </contact>
      </surface>
    </collision>
  </gazebo>
  <gazebo reference="victor_left_arm_joint_1">
    <axis>
      <dynamics>
        <spring_stiffness>0.1</spring_stiffness>
        <spring_reference>0.0</spring_reference>
        <damping>0.5</damping>
      </dynamics>
    </axis>
  </gazebo>
  <gazebo reference="victor_left_arm_link_0">
    <collision>
      <surface>
        <bounce>
          <restitution_coefficient>0.15</restitution_coefficient>
        </bounce>
        <contact>
          <ode>
            <soft_cfm>0.5</soft_cfm>
            <soft_erp>0.8</soft_erp>
            <kp>100000</kp>
            <min_depth>0.0001</min_depth>
          </ode>
        </contact>
      </surface>
    </collision>
  </gazebo>
  <gazebo reference="victor_right_gripper_fingerA_base">
    <collision>
      <surface>
        <bounce>
          <restitution_coefficient>0.15</restitution_coefficient>
        </bounce>
        <contact>
          <ode>
            <soft_cfm>0.5</soft_cfm>
            <soft_erp>0.8</soft_erp>
            <kp>100000</kp>
            <min_depth>0.0001</min_depth>
          </ode>
        </contact>
      </surface>
    </collision>
  </gazebo>
  <gazebo reference="victor_right_gripper_fingerA_prox">
    <collision>
      <surface>
        <bounce>
          <restitution_coefficient>0.15</restitution_coefficient>
        </bounce>
        <contact>
          <ode>
            <soft_cfm>0.5</soft_cfm>
            <soft_erp>0.8</soft_erp>
            <kp>100000</kp>
            <min_depth>0.0001</min_depth>
          </ode>
        </contact>
      </surface>
    </collision>
  </gazebo>
  <gazebo reference="victor_right_gripper_fingerA_med">
    <collision>
      <surface>
        <bounce>
          <restitution_coefficient>0.15</restitution_coefficient>
        </bounce>
        <contact>
          <ode>
            <soft_cfm>0.5</soft_cfm>
            <soft_erp>0.8</soft_erp>
            <kp>100000</kp>
            <min_depth>0.0001</min_depth>
          </ode>
        </contact>
      </surface>
    </collision>
  </gazebo>
  <gazebo reference="victor_right_gripper_fingerA_dist">
    <collision>
      <surface>
        <bounce>
          <restitution_coefficient>0.15</restitution_coefficient>
        </bounce>
        <contact>
          <ode>
            <soft_cfm>0.5</soft_cfm>
            <soft_erp>0.8</soft_erp>
            <kp>100000</kp>
            <min_depth>0.0001</min_depth>
          </ode>
        </contact>
      </surface>
    </collision>
  </gazebo>
  <gazebo reference="victor_right_gripper_fingerA_joint_2">
    <axis>
      <dynamics>
        <spring_stiffness>0.1</spring_stiffness>
        <spring_reference>0.0</spring_reference>
        <damping>0.5</damping>
      </dynamics>
    </axis>
  </gazebo>
  <gazebo reference="victor_right_gripper_fingerA_joint_3">
    <axis>
      <dynamics>
        <spring_stiffness>0.1</spring_stiffness>
        <spring_reference>0.0</spring_reference>
        <damping>0.5</damping>
      </dynamics>
    </axis>
  </gazebo>
  <gazebo reference="victor_right_gripper_fingerA_joint_4">
    <axis>
      <dynamics>
        <spring_stiffness>0.1</spring_stiffness>
        <spring_reference>0.0</spring_reference>
        <damping>0.5</damping>
      </dynamics>
    </axis>
  </gazebo>
  <gazebo reference="victor_right_gripper_fingerB_base">
    <collision>
      <surface>
        <bounce>
          <restitution_coefficient>0.15</restitution_coefficient>
        </bounce>
        <contact>
          <ode>
            <soft_cfm>0.5</soft_cfm>
            <soft_erp>0.8</soft_erp>
            <kp>100000</kp>
            <min_depth>0.0001</min_depth>
          </ode>
        </contact>
      </surface>
    </collision>
  </gazebo>
  <gazebo reference="victor_right_gripper_fingerB_prox">
    <collision>
      <surface>
        <bounce>
          <restitution_coefficient>0.15</restitution_coefficient>
        </bounce>
        <contact>
          <ode>
            <soft_cfm>0.5</soft_cfm>
            <soft_erp>0.8</soft_erp>
            <kp>100000</kp>
            <min_depth>0.0001</min_depth>
          </ode>
        </contact>
      </surface>
    </collision>
  </gazebo>
  <gazebo reference="victor_right_gripper_fingerB_med">
    <collision>
      <surface>
        <bounce>
          <restitution_coefficient>0.15</restitution_coefficient>
        </bounce>
        <contact>
          <ode>
            <soft_cfm>0.5</soft_cfm>
            <soft_erp>0.8</soft_erp>
            <kp>100000</kp>
            <min_depth>0.0001</min_depth>
          </ode>
        </contact>
      </surface>
    </collision>
  </gazebo>
  <gazebo reference="victor_right_gripper_fingerB_dist">
    <collision>
      <surface>
        <bounce>
          <restitution_coefficient>0.15</restitution_coefficient>
        </bounce>
        <contact>
          <ode>
            <soft_cfm>0.5</soft_cfm>
            <soft_erp>0.8</soft_erp>
            <kp>100000</kp>
            <min_depth>0.0001</min_depth>
          </ode>
        </contact>
      </surface>
    </collision>
  </gazebo>
  <gazebo reference="victor_right_gripper_fingerB_joint_2">
    <axis>
      <dynamics>
        <spring_stiffness>0.1</spring_stiffness>
        <spring_reference>0.0</spring_reference>
        <damping>0.5</damping>
      </dynamics>
    </axis>
  </gazebo>
  <gazebo reference="victor_right_gripper_fingerB_joint_3">
    <axis>
      <dynamics>
        <spring_stiffness>0.1</spring_stiffness>
        <spring_reference>0.0</spring_reference>
        <damping>0.5</damping>
      </dynamics>
    </axis>
  </gazebo>
  <gazebo reference="victor_right_gripper_fingerB_joint_4">
    <axis>
      <dynamics>
        <spring_stiffness>0.1</spring_stiffness>
        <spring_reference>0.0</spring_reference>
        <damping>0.5</damping>
      </dynamics>
    </axis>
  </gazebo>
  <gazebo reference="victor_right_gripper_fingerB_base">
    <collision>
      <surface>
        <bounce>
          <restitution_coefficient>0.15</restitution_coefficient>
        </bounce>
        <contact>
          <ode>
            <soft_cfm>0.5</soft_cfm>
            <soft_erp>0.8</soft_erp>
            <kp>100000</kp>
            <min_depth>0.0001</min_depth>
          </ode>
        </contact>
      </surface>
    </collision>
  </gazebo>
  <gazebo reference="victor_right_gripper_fingerB_prox">
    <collision>
      <surface>
        <bounce>
          <restitution_coefficient>0.15</restitution_coefficient>
        </bounce>
        <contact>
          <ode>
            <soft_cfm>0.5</soft_cfm>
            <soft_erp>0.8</soft_erp>
            <kp>100000</kp>
            <min_depth>0.0001</min_depth>
          </ode>
        </contact>
      </surface>
    </collision>
  </gazebo>
  <gazebo reference="victor_right_gripper_fingerB_med">
    <collision>
      <surface>
        <bounce>
          <restitution_coefficient>0.15</restitution_coefficient>
        </bounce>
        <contact>
          <ode>
            <soft_cfm>0.5</soft_cfm>
            <soft_erp>0.8</soft_erp>
            <kp>100000</kp>
            <min_depth>0.0001</min_depth>
          </ode>
        </contact>
      </surface>
    </collision>
  </gazebo>
  <gazebo reference="victor_right_gripper_fingerB_dist">
    <collision>
      <surface>
        <bounce>
          <restitution_coefficient>0.15</restitution_coefficient>
        </bounce>
        <contact>
          <ode>
            <soft_cfm>0.5</soft_cfm>
            <soft_erp>0.8</soft_erp>
            <kp>100000</kp>
            <min_depth>0.0001</min_depth>
          </ode>
        </contact>
      </surface>
    </collision>
  </gazebo>
  <gazebo reference="victor_right_gripper_fingerB_joint_2">
    <axis>
      <dynamics>
        <spring_stiffness>0.1</spring_stiffness>
        <spring_reference>0.0</spring_reference>
        <damping>0.5</damping>
      </dynamics>
    </axis>
  </gazebo>
  <gazebo reference="victor_right_gripper_fingerB_joint_3">
    <axis>
      <dynamics>
        <spring_stiffness>0.1</spring_stiffness>
        <spring_reference>0.0</spring_reference>
        <damping>0.5</damping>
      </dynamics>
    </axis>
  </gazebo>
  <gazebo reference="victor_right_gripper_fingerB_joint_4">
    <axis>
      <dynamics>
        <spring_stiffness>0.1</spring_stiffness>
        <spring_reference>0.0</spring_reference>
        <damping>0.5</damping>
      </dynamics>
    </axis>
  </gazebo>
  <gazebo reference="victor_right_arm_link_7">
    <collision>
      <surface>
        <bounce>
          <restitution_coefficient>0.15</restitution_coefficient>
        </bounce>
        <contact>
          <ode>
            <soft_cfm>0.5</soft_cfm>
            <soft_erp>0.8</soft_erp>
            <kp>100000</kp>
            <min_depth>0.0001</min_depth>
          </ode>
        </contact>
      </surface>
    </collision>
  </gazebo>
  <gazebo reference="victor_right_arm_joint_7">
    <axis>
      <dynamics>
        <spring_stiffness>0.1</spring_stiffness>
        <spring_reference>0.0</spring_reference>
        <damping>0.5</damping>
      </dynamics>
    </axis>
  </gazebo>
  <gazebo reference="victor_right_arm_link_6">
    <collision>
      <surface>
        <bounce>
          <restitution_coefficient>0.15</restitution_coefficient>
        </bounce>
        <contact>
          <ode>
            <soft_cfm>0.5</soft_cfm>
            <soft_erp>0.8</soft_erp>
            <kp>100000</kp>
            <min_depth>0.0001</min_depth>
          </ode>
        </contact>
      </surface>
    </collision>
  </gazebo>
  <gazebo reference="victor_right_arm_joint_6">
    <axis>
      <dynamics>
        <spring_stiffness>0.1</spring_stiffness>
        <spring_reference>0.0</spring_reference>
        <damping>0.5</damping>
      </dynamics>
    </axis>
  </gazebo>
  <gazebo reference="victor_right_arm_link_5">
    <collision>
      <surface>
        <bounce>
          <restitution_coefficient>0.15</restitution_coefficient>
        </bounce>
        <contact>
          <ode>
            <soft_cfm>0.5</soft_cfm>
            <soft_erp>0.8</soft_erp>
            <kp>100000</kp>
            <min_depth>0.0001</min_depth>
          </ode>
        </contact>
      </surface>
    </collision>
  </gazebo>
  <gazebo reference="victor_right_arm_joint_5">
    <axis>
      <dynamics>
        <spring_stiffness>0.1</spring_stiffness>
        <spring_reference>0.0</spring_reference>
        <damping>0.5</damping>
      </dynamics>
    </axis>
  </gazebo>
  <gazebo reference="victor_right_arm_link_4">
    <collision>
      <surface>
        <bounce>
          <restitution_coefficient>0.15</restitution_coefficient>
        </bounce>
        <contact>
          <ode>
            <soft_cfm>0.5</soft_cfm>
            <soft_erp>0.8</soft_erp>
            <kp>100000</kp>
            <min_depth>0.0001</min_depth>
          </ode>
        </contact>
      </surface>
    </collision>
  </gazebo>
  <gazebo reference="victor_right_arm_joint_4">
    <axis>
      <dynamics>
        <spring_stiffness>0.1</spring_stiffness>
        <spring_reference>0.0</spring_reference>
        <damping>0.5</damping>
      </dynamics>
    </axis>
  </gazebo>
  <gazebo reference="victor_right_arm_link_3">
    <collision>
      <surface>
        <bounce>
          <restitution_coefficient>0.15</restitution_coefficient>
        </bounce>
        <contact>
          <ode>
            <soft_cfm>0.5</soft_cfm>
            <soft_erp>0.8</soft_erp>
            <kp>100000</kp>
            <min_depth>0.0001</min_depth>
          </ode>
        </contact>
      </surface>
    </collision>
  </gazebo>
  <gazebo reference="victor_right_arm_joint_3">
    <axis>
      <dynamics>
        <spring_stiffness>0.1</spring_stiffness>
        <spring_reference>0.0</spring_reference>
        <damping>0.5</damping>
      </dynamics>
    </axis>
  </gazebo>
  <gazebo reference="victor_right_arm_link_2">
    <collision>
      <surface>
        <bounce>
          <restitution_coefficient>0.15</restitution_coefficient>
        </bounce>
        <contact>
          <ode>
            <soft_cfm>0.5</soft_cfm>
            <soft_erp>0.8</soft_erp>
            <kp>100000</kp>
            <min_depth>0.0001</min_depth>
          </ode>
        </contact>
      </surface>
    </collision>
  </gazebo>
  <gazebo reference="victor_right_arm_joint_2">
    <axis>
      <dynamics>
        <spring_stiffness>0.1</spring_stiffness>
        <spring_reference>0.0</spring_reference>
        <damping>0.5</damping>
      </dynamics>
    </axis>
  </gazebo>
  <gazebo reference="victor_right_arm_link_1">
    <collision>
      <surface>
        <bounce>
          <restitution_coefficient>0.15</restitution_coefficient>
        </bounce>
        <contact>
          <ode>
            <soft_cfm>0.5</soft_cfm>
            <soft_erp>0.8</soft_erp>
            <kp>100000</kp>
            <min_depth>0.0001</min_depth>
          </ode>
        </contact>
      </surface>
    </collision>
  </gazebo>
  <gazebo reference="victor_right_arm_joint_1">
    <axis>
      <dynamics>
        <spring_stiffness>0.1</spring_stiffness>
        <spring_reference>0.0</spring_reference>
        <damping>0.5</damping>
      </dynamics>
    </axis>
  </gazebo>
  <gazebo reference="victor_right_arm_link_0">
    <collision>
      <surface>
        <bounce>
          <restitution_coefficient>0.15</restitution_coefficient>
        </bounce>
        <contact>
          <ode>
            <soft_cfm>0.5</soft_cfm>
            <soft_erp>0.8</soft_erp>
            <kp>100000</kp>
            <min_depth>0.0001</min_depth>
          </ode>
        </contact>
      </surface>
    </collision>
  </gazebo>
  <link name="world"/>
  <joint name="world_joint" type="fixed">
    <parent link="world"/>
    <child link="victor_root"/>
    <origin rpy="0.0 0.0 0.0" xyz="0.0 0.0 0.0"/>
  </joint>
</robot>
